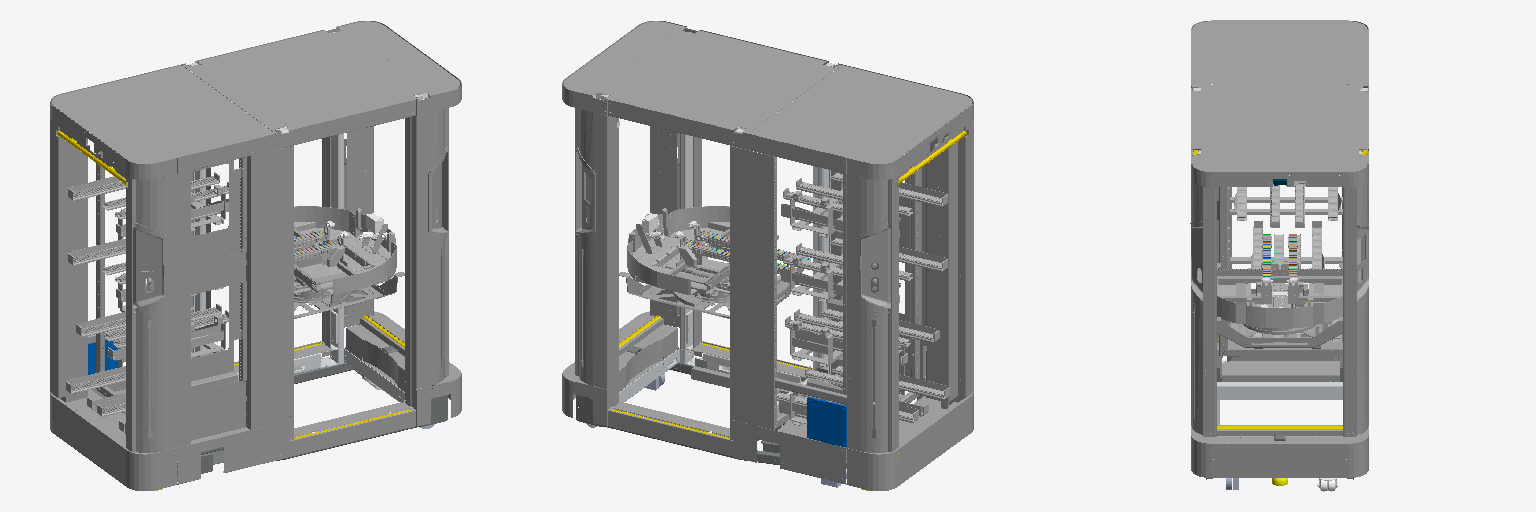
--- Render facts (derived) ---
3 views of the same robot in one strip: view 1: azimuth 30°, elevation 25°; view 2: azimuth 150°, elevation 25°; view 3: azimuth 270°, elevation 25° (orthographic).
Robot: soto_2_1 — 135 links, 134 joints (62 revolute, 4 continuous, 9 prismatic, 59 fixed); root link base_footprint; default pose: all joints at 0 but 7 set to mid-range because 0 is outside their limits (vertical_axis = 1.15, gripper_base_x = 0.165, gripper_y_right = 0.2455, gripper_y_left = 0.2455, press_jaw = 0.115, press_jaw_front = 0.115, +1 more).
Visible links, largest first — view 1: design_elements_link, backpack_base_link, gripper_base_link, manipulator_base_link, backpack_layer_2_base_link, backpack_layer_4_base_link, base_link, backpack_layer_1_base_link, vertical_axis_link, backpack_layer_3_base_link, gripper_base_x_link, gripper_y_left_link; view 2: design_elements_link, backpack_base_link, gripper_base_link, manipulator_base_link, backpack_layer_2_base_link, backpack_layer_3_base_link, backpack_layer_4_base_link, backpack_layer_1_base_link, vertical_axis_link, charger_connector, base_link, gripper_base_x_link (+2 smaller); view 3: design_elements_link, gripper_base_link, manipulator_base_link, backpack_layer_3_base_link, vertical_axis_link, gripper_base_x_link, backpack_layer_2_base_link, backpack_base_link, gripper_y_right_link, gripper_y_left_link.
Boxes of the visible links, x1,y1,x2,y2 form: design_elements_link: [50, 21, 461, 490]; backpack_base_link: [50, 113, 246, 452]; gripper_base_link: [294, 206, 396, 295]; manipulator_base_link: [188, 32, 426, 436]; backpack_layer_2_base_link: [76, 273, 228, 360]; backpack_layer_4_base_link: [68, 154, 228, 237]; base_link: [123, 324, 447, 473]; backpack_layer_1_base_link: [66, 347, 125, 433]; vertical_axis_link: [294, 272, 404, 318]; backpack_layer_3_base_link: [68, 208, 223, 301]; gripper_base_x_link: [294, 229, 355, 294]; gripper_y_left_link: [294, 236, 347, 279]; design_elements_link: [562, 21, 973, 490]; backpack_base_link: [771, 119, 973, 452]; gripper_base_link: [627, 206, 785, 295]; manipulator_base_link: [597, 32, 835, 436]; backpack_layer_2_base_link: [785, 298, 939, 366]; backpack_layer_3_base_link: [781, 230, 947, 302]; backpack_layer_4_base_link: [781, 172, 947, 237]; backpack_layer_1_base_link: [777, 356, 949, 425]; vertical_axis_link: [619, 240, 803, 318]; charger_connector: [807, 397, 846, 446]; base_link: [576, 324, 846, 468]; gripper_base_x_link: [668, 229, 778, 294]; design_elements_link: [1190, 20, 1368, 477]; gripper_base_link: [1217, 268, 1342, 327]; manipulator_base_link: [1192, 86, 1367, 459]; backpack_layer_3_base_link: [1228, 184, 1342, 227]; vertical_axis_link: [1217, 263, 1342, 347]; gripper_base_x_link: [1217, 269, 1342, 307]; backpack_layer_2_base_link: [1228, 221, 1342, 285]; backpack_base_link: [1217, 187, 1342, 355]; gripper_y_right_link: [1281, 236, 1305, 303]; gripper_y_left_link: [1254, 236, 1278, 303].
Bounding box of the posed robot: 2.15 × 1.07 × 2.16 m (x, y, z).
40 mesh visuals loaded from 32 distinct referenced files (30 binary STL); not drawn: 1 (reference not matched to a file when rendering).

robot.urdf — soto_2_1:
<?xml version="1.0" ?>
<!-- =================================================================================== -->
<!-- |    This document was autogenerated by xacro from [local-path]/catkin_ws/install/share/soto_2_1_description/urdf/soto_2_1_description.xacro | -->
<!-- |    EDITING THIS FILE BY HAND IS NOT RECOMMENDED                                 | -->
<!-- =================================================================================== -->
<robot name="soto_2_1">
  <link name="base_footprint"/>
  <link name="base_link">
    <inertial>
      <origin rpy="0 0 0" xyz="0.01 -0.01 0.02"/>
      <mass value="167.45"/>
      <inertia ixx="18.33" ixy="-6.02" ixz="1.41" iyy="88.5" iyz="-0.08" izz="104.26"/>
    </inertial>
    <visual>
      <geometry>
        <mesh filename="package://soto_drive_base_2_1_description/meshes/base_link.STL"/>
      </geometry>
      <material name="">
        <color rgba="0.52941 0.54902 0.54902 1"/>
      </material>
    </visual>
    <collision>
      <geometry>
        <mesh filename="package://soto_drive_base_2_1_description/meshes/base_link_col.STL"/>
      </geometry>
    </collision>
  </link>
  <joint name="base_footprint_to_base" type="fixed">
    <origin rpy="0 0 0" xyz="0 0 0.1665"/>
    <parent link="base_footprint"/>
    <child link="base_link"/>
  </joint>
  <link name="pcw_front_right_base_link">
    <inertial>
      <origin rpy="0 0 0" xyz="0 0.03925 -0.038"/>
      <mass value="13.5"/>
      <inertia ixx="0.07596928" ixy="0" ixz="0" iyy="0.0390105" iyz="0" izz="0.10198378"/>
    </inertial>
    <visual>
      <origin rpy="0 0 0" xyz="0 0.03925 -0.038"/>
      <geometry>
        <box size="0.17 0.2485 0.076"/>
      </geometry>
      <material name="">
        <color rgba="0.79216 0.81961 0.93333 1"/>
      </material>
    </visual>
    <collision>
      <origin rpy="0 0 0" xyz="0 0.03925 -0.038"/>
      <geometry>
        <box size="0.17 0.2485 0.076"/>
      </geometry>
    </collision>
  </link>
  <joint name="base_to_pcw_front_right" type="fixed">
    <origin rpy="0 0 0" xyz="0.92259 -0.305 0.038"/>
    <parent link="base_link"/>
    <child link="pcw_front_right_base_link"/>
  </joint>
  <link name="pcw_rear_left_base_link">
    <inertial>
      <origin rpy="0 0 0" xyz="0 0.03925 -0.038"/>
      <mass value="13.5"/>
      <inertia ixx="0.07596928" ixy="0" ixz="0" iyy="0.0390105" iyz="0" izz="0.10198378"/>
    </inertial>
    <visual>
      <origin rpy="0 0 0" xyz="0 0.03925 -0.038"/>
      <geometry>
        <box size="0.17 0.2485 0.076"/>
      </geometry>
      <material name="">
        <color rgba="0.79216 0.81961 0.93333 1"/>
      </material>
    </visual>
    <collision>
      <origin rpy="0 0 0" xyz="0 0.03925 -0.038"/>
      <geometry>
        <box size="0.17 0.2485 0.076"/>
      </geometry>
    </collision>
  </link>
  <joint name="base_to_pcw_rear_left" type="fixed">
    <origin rpy="0 0 -1.5708" xyz="-0.60082 0.301 0.038"/>
    <parent link="base_link"/>
    <child link="pcw_rear_left_base_link"/>
  </joint>
  <link name="pcw_front_right_steer_link">
    <inertial>
      <origin rpy="0 0 0" xyz="0 0.03975 -0.0545"/>
      <mass value="2"/>
      <inertia ixx="0.022267099999999998" ixy="0" ixz="0" iyy="0.0399683" iyz="0" izz="0.0219021"/>
    </inertial>
    <visual>
      <origin rpy="0 0 0" xyz="0 0.03975 -0.0545"/>
      <geometry>
        <box size="0.109 0.0355 0.11"/>
      </geometry>
      <material name="">
        <color rgba="0.79216 0.81961 0.93333 1"/>
      </material>
    </visual>
    <collision>
      <origin rpy="0 0 0" xyz="0 0.03975 -0.0545"/>
      <geometry>
        <box size="0.109 0.0355 0.11"/>
      </geometry>
    </collision>
  </link>
  <joint name="pcw_front_right_steer" type="continuous">
    <origin rpy="0 0 0" xyz="0 0 -0.0765"/>
    <parent link="pcw_front_right_base_link"/>
    <child link="pcw_front_right_steer_link"/>
    <axis xyz="0 0 1"/>
    <dynamics damping="1.0" friction="0.0"/>
  </joint>
  <link name="pcw_rear_left_steer_link">
    <inertial>
      <origin rpy="0 0 0" xyz="0 0.03975 -0.0545"/>
      <mass value="2"/>
      <inertia ixx="0.022267099999999998" ixy="0" ixz="0" iyy="0.0399683" iyz="0" izz="0.0219021"/>
    </inertial>
    <visual>
      <origin rpy="0 0 0" xyz="0 0.03975 -0.0545"/>
      <geometry>
        <box size="0.109 0.0355 0.11"/>
      </geometry>
      <material name="">
        <color rgba="0.79216 0.81961 0.93333 1"/>
      </material>
    </visual>
    <collision>
      <origin rpy="0 0 0" xyz="0 0.03975 -0.0545"/>
      <geometry>
        <box size="0.109 0.0355 0.11"/>
      </geometry>
    </collision>
  </link>
  <joint name="pcw_rear_left_steer" type="continuous">
    <origin rpy="0 0 1.5707963267948966" xyz="0 0 -0.0765"/>
    <parent link="pcw_rear_left_base_link"/>
    <child link="pcw_rear_left_steer_link"/>
    <axis xyz="0 0 1"/>
    <dynamics damping="1.0" friction="0.0"/>
  </joint>
  <link name="pcw_front_right_wheel_link">
    <inertial>
      <origin rpy="0 0 0" xyz="0 0 0"/>
      <mass value="1.5"/>
      <inertia ixx="0.0217109" ixy="0" ixz="0" iyy="0.039421899999999996" iyz="0" izz="0.0217109"/>
    </inertial>
    <visual>
      <origin rpy="1.5707963267948966 0 0" xyz="0 0 0"/>
      <geometry>
        <cylinder length="0.04" radius="0.0725"/>
      </geometry>
      <material name="">
        <color rgba="0.79216 0.81961 0.93333 1"/>
      </material>
    </visual>
    <collision>
      <origin rpy="1.5707963267948966 0 0" xyz="0 0 0"/>
      <geometry>
        <cylinder length="0.04" radius="0.0725"/>
      </geometry>
    </collision>
  </link>
  <joint name="pcw_front_right_drive" type="continuous">
    <origin rpy="0 0 0" xyz="0 0 -0.055502"/>
    <parent link="pcw_front_right_steer_link"/>
    <child link="pcw_front_right_wheel_link"/>
    <axis xyz="0 1 0"/>
    <dynamics damping="1.0" friction="0.0"/>
  </joint>
  <link name="pcw_rear_left_wheel_link">
    <inertial>
      <origin rpy="0 0 0" xyz="0 0 0"/>
      <mass value="1.5"/>
      <inertia ixx="0.0217109" ixy="0" ixz="0" iyy="0.039421899999999996" iyz="0" izz="0.0217109"/>
    </inertial>
    <visual>
      <origin rpy="1.5707963267948966 0 0" xyz="0 0 0"/>
      <geometry>
        <cylinder length="0.04" radius="0.0725"/>
      </geometry>
      <material name="">
        <color rgba="0.79216 0.81961 0.93333 1"/>
      </material>
    </visual>
    <collision>
      <origin rpy="1.5707963267948966 0 0" xyz="0 0 0"/>
      <geometry>
        <cylinder length="0.04" radius="0.0725"/>
      </geometry>
    </collision>
  </link>
  <joint name="pcw_rear_left_drive" type="continuous">
    <origin rpy="0 0 0" xyz="0 0 -0.055502"/>
    <parent link="pcw_rear_left_steer_link"/>
    <child link="pcw_rear_left_wheel_link"/>
    <axis xyz="0 1 0"/>
    <dynamics damping="1.0" friction="0.0"/>
  </joint>
  <link name="caster_front_left_base_link">
    <inertial>
      <origin rpy="0 0 0" xyz="-0.02 0 0.02"/>
      <mass value="3.1"/>
      <inertia ixx="0.01" ixy="0" ixz="0" iyy="0.01" iyz="0" izz="0.01"/>
    </inertial>
    <visual>
      <geometry>
        <mesh filename="package://soto_drive_base_2_1_description/meshes/caster_base_link.STL"/>
      </geometry>
      <material name="">
        <color rgba="1 1 1 1"/>
      </material>
    </visual>
    <collision>
      <geometry>
        <sphere radius="0.04052"/>
      </geometry>
    </collision>
  </link>
  <joint name="base_to_caster_front_left" type="fixed">
    <origin rpy="0 0 0" xyz="0.94959 0.28625 -0.1248"/>
    <parent link="base_link"/>
    <child link="caster_front_left_base_link"/>
  </joint>
  <link name="caster_rear_right_base_link">
    <inertial>
      <origin rpy="0 0 0" xyz="-0.02 0 0.02"/>
      <mass value="3.1"/>
      <inertia ixx="0.01" ixy="0" ixz="0" iyy="0.01" iyz="0" izz="0.01"/>
    </inertial>
    <visual>
      <geometry>
        <mesh filename="package://soto_drive_base_2_1_description/meshes/caster_base_link.STL"/>
      </geometry>
      <material name="">
        <color rgba="1 1 1 1"/>
      </material>
    </visual>
    <collision>
      <geometry>
        <sphere radius="0.04052"/>
      </geometry>
    </collision>
  </link>
  <joint name="base_to_caster_rear_right" type="fixed">
    <origin rpy="0 0 1.5707963267948966" xyz="-0.60075 -0.229 -0.1248"/>
    <parent link="base_link"/>
    <child link="caster_rear_right_base_link"/>
  </joint>
  <link name="laser_scanner_base_front_link">
    <inertial>
      <origin rpy="0 0 0" xyz="-0.0030205 0 -0.042173"/>
      <mass value="1.45"/>
      <inertia ixx="0.0031605" ixy="0" ixz="0" iyy="0.0030628" iyz="0" izz="0.0018952"/>
    </inertial>
    <visual>
      <geometry>
        <mesh filename="package://soto_drive_base_2_1_description/meshes/laser_scanner_link.STL"/>
      </geometry>
      <material name="">
        <color rgba="1 1 0 1"/>
      </material>
    </visual>
    <collision>
      <origin rpy="0 0 0" xyz="0 0 -0.0353"/>
      <geometry>
        <cylinder length="0.150512" radius="0.05"/>
      </geometry>
    </collision>
  </link>
  <joint name="base_to_laser_scanner_front" type="fixed">
    <origin rpy="3.1416 0 0" xyz="1.0013 0 -0.04574"/>
    <parent link="base_link"/>
    <child link="laser_scanner_base_front_link"/>
  </joint>
  <link name="laser_scanner_base_rear_right_link">
    <inertial>
      <origin rpy="0 0 0" xyz="-0.0030205 0 -0.042173"/>
      <mass value="1.45"/>
      <inertia ixx="0.0031605" ixy="0" ixz="0" iyy="0.0030628" iyz="0" izz="0.0018952"/>
    </inertial>
    <visual>
      <geometry>
        <mesh filename="package://soto_drive_base_2_1_description/meshes/laser_scanner_link.STL"/>
      </geometry>
      <material name="">
        <color rgba="1 1 0 1"/>
      </material>
    </visual>
    <collision>
      <origin rpy="0 0 0" xyz="0 0 -0.0353"/>
      <geometry>
        <cylinder length="0.150512" radius="0.05"/>
      </geometry>
    </collision>
  </link>
  <joint name="base_to_laser_scanner_rear_right" type="fixed">
    <origin rpy="3.1416 0 -2.3562" xyz="-0.86928 -0.37856 -0.045761"/>
    <parent link="base_link"/>
    <child link="laser_scanner_base_rear_right_link"/>
  </joint>
  <link name="laser_scanner_base_rear_left_link">
    <inertial>
      <origin rpy="0 0 0" xyz="-0.0030205 0 -0.042173"/>
      <mass value="1.45"/>
      <inertia ixx="0.0031605" ixy="0" ixz="0" iyy="0.0030628" iyz="0" izz="0.0018952"/>
    </inertial>
    <visual>
      <geometry>
        <mesh filename="package://soto_drive_base_2_1_description/meshes/laser_scanner_link.STL"/>
      </geometry>
      <material name="">
        <color rgba="1 1 0 1"/>
      </material>
    </visual>
    <collision>
      <origin rpy="0 0 0" xyz="0 0 -0.0353"/>
      <geometry>
        <cylinder length="0.150512" radius="0.05"/>
      </geometry>
    </collision>
  </link>
  <joint name="base_to_laser_scanner_rear_left" type="fixed">
    <origin rpy="3.1416 0 2.3562" xyz="-0.86908 0.37856 -0.045761"/>
    <parent link="base_link"/>
    <child link="laser_scanner_base_rear_left_link"/>
  </joint>
  <link name="light_curtain_receiver_front_link">
    <inertial>
      <origin rpy="0 0 0" xyz="-0.013451 0.00046065 0"/>
      <mass value="0.63959"/>
      <inertia ixx="0.03084176" ixy="0" ixz="0" iyy="0.00013446" iyz="0" izz="0.03082808"/>
    </inertial>
    <visual>
      <geometry>
        <mesh filename="package://soto_drive_base_2_1_description/meshes/light_curtain_receiver_link.STL"/>
      </geometry>
      <material name="">
        <color rgba="0.9780 0.8557 0 1"/>
      </material>
    </visual>
    <collision>
      <origin rpy="1.5708 0 0" xyz="-0.015 0 0"/>
      <geometry>
        <cylinder length="0.7625" radius="0.015"/>
      </geometry>
    </collision>
  </link>
  <joint name="base_to_light_curtain_receiver_front" type="fixed">
    <origin rpy="3.1416 -1.5708 3.1416" xyz="0.9249 0 0.24363"/>
    <parent link="base_link"/>
    <child link="light_curtain_receiver_front_link"/>
  </joint>
  <link name="imu_link">
    <inertial>
      <origin rpy="0 0 0" xyz="0 0.00119 -0.00078463"/>
      <mass value="0.022358"/>
      <inertia ixx="2.7765E-06" ixy="1.8814E-21" ixz="-3.6866E-25" iyy="2.4313E-06" iyz="9.4639E-09" izz="4.9161E-06"/>
    </inertial>
    <visual>
      <geometry>
        <mesh filename="package://soto_drive_base_2_1_description/meshes/imu_link.STL"/>
      </geometry>
      <material name="">
        <color rgba="0.1 0.1 0.1 1"/>
      </material>
    </visual>
  </link>
  <joint name="base_to_imu" type="fixed">
    <origin rpy="-1.5708 1.5708 0.0" xyz="-0.51689 -0.38158 1.8366"/>
    <parent link="base_link"/>
    <child link="imu_link"/>
  </joint>
  <joint name="base_to_manipulator_base" type="fixed">
    <origin rpy="0 0 0" xyz="0.33418 0 -0.02188"/>
    <parent link="base_link"/>
    <child link="manipulator_base_link"/>
  </joint>
  <link name="manipulator_base_link">
    <inertial>
      <origin rpy="0 0 0" xyz="0.0083951 0.00056472 0.83616"/>
      <mass value="133"/>
      <inertia ixx="233.82" ixy="1.4667" ixz="-2.4067" iyy="235.13" iyz="-1.5083" izz="48.653"/>
    </inertial>
    <visual>
      <geometry>
        <mesh filename="package://soto_vertical_axis_2_1_description/meshes/manipulator_base_link.STL"/>
      </geometry>
      <material name="">
        <color rgba="0.89804 0.91765 0.92941 1"/>
      </material>
    </visual>
    <collision>
      <geometry>
        <mesh filename="package://soto_vertical_axis_2_1_description/meshes/manipulator_base_link_col.STL"/>
      </geometry>
    </collision>
  </link>
  <link name="vertical_axis_link">
    <inertial>
      <origin rpy="0 0 0" xyz="-0.017005 -0.012942 0.048502"/>
      <mass value="36.13"/>
      <inertia ixx="1.196522" ixy="0.120705" ixz="-0.048934" iyy="1.700861" iyz="-0.036322" izz="2.566171"/>
    </inertial>
    <visual>
      <geometry>
        <mesh filename="package://soto_vertical_axis_2_1_description/meshes/vertical_axis_link.STL"/>
      </geometry>
      <material name="">
        <color rgba="0.69804 0.69804 0.69804 1"/>
      </material>
    </visual>
    <collision>
      <geometry>
        <mesh filename="package://soto_vertical_axis_2_1_description/meshes/vertical_axis_link_col.STL"/>
      </geometry>
    </collision>
  </link>
  <joint name="vertical_axis" type="prismatic">
    <origin rpy="0 0 0" xyz="0 0 -0.47283"/>
    <parent link="manipulator_base_link"/>
    <child link="vertical_axis_link"/>
    <axis xyz="0 0 1"/>
    <dynamics damping="4000.0" friction="0.0"/>
    <limit effort="1650.32" lower="0.385" upper="1.91" velocity="0.45"/>
  </joint>
  <link name="light_curtain_emitter_right_link">
    <inertial>
      <origin rpy="0 0 0" xyz="-0.013451 0 0"/>
      <mass value="0.63959"/>
      <inertia ixx="0.03084176" ixy="0" ixz="0" iyy="0.00013446" iyz="0" izz="0.03082808"/>
    </inertial>
    <visual>
      <geometry>
        <mesh filename="package://soto_vertical_axis_2_1_description/meshes/light_curtain_emitter_link.STL"/>
      </geometry>
      <material name="">
        <color rgba="0.9780 0.8557 0 1"/>
      </material>
    </visual>
    <collision>
      <origin rpy="1.5708 0 0" xyz="-0.015 0 0"/>
      <geometry>
        <cylinder length="0.7625" radius="0.015"/>
      </geometry>
    </collision>
  </link>
  <joint name="base_to_light_curtain_emitter_right" type="fixed">
    <origin rpy="1.5708 1.5708 0" xyz="0.0012921 -0.505 1.9279"/>
    <parent link="manipulator_base_link"/>
    <child link="light_curtain_emitter_right_link"/>
  </joint>
  <link name="light_curtain_emitter_left_link">
    <inertial>
      <origin rpy="0 0 0" xyz="-0.013451 0 0"/>
      <mass value="0.63959"/>
      <inertia ixx="0.03084176" ixy="0" ixz="0" iyy="0.00013446" iyz="0" izz="0.03082808"/>
    </inertial>
    <visual>
      <geometry>
        <mesh filename="package://soto_vertical_axis_2_1_description/meshes/light_curtain_emitter_link.STL"/>
      </geometry>
      <material name="">
        <color rgba="0.9780 0.8557 0 1"/>
      </material>
    </visual>
    <collision>
      <origin rpy="1.5708 0 0" xyz="-0.015 0 0"/>
      <geometry>
        <cylinder length="0.7625" radius="0.015"/>
      </geometry>
    </collision>
  </link>
  <joint name="base_to_light_curtain_emitter_left" type="fixed">
    <origin rpy="1.5708 1.5708 0" xyz="-0.0012921 0.505 1.9279"/>
    <parent link="manipulator_base_link"/>
    <child link="light_curtain_emitter_left_link"/>
  </joint>
  <link name="light_curtain_receiver_right_link">
    <inertial>
      <origin rpy="0 0 0" xyz="-0.013451 0.00046065 0"/>
      <mass value="0.63959"/>
      <inertia ixx="0.03084176" ixy="0" ixz="0" iyy="0.00013446" iyz="0" izz="0.03082808"/>
    </inertial>
    <visual>
      <geometry>
        <mesh filename="package://soto_vertical_axis_2_1_description/meshes/light_curtain_receiver_link.STL"/>
      </geometry>
      <material name="">
        <color rgba="0.9780 0.8557 0 1"/>
      </material>
    </visual>
    <collision>
      <origin rpy="1.5708 0 0" xyz="-0.015 0 0"/>
      <geometry>
        <cylinder length="0.7625" radius="0.015"/>
      </geometry>
    </collision>
  </link>
  <joint name="base_to_light_curtain_receiver_right" type="fixed">
    <origin rpy="0 -1.5708 1.5708" xyz="0.00181 -0.505 0.0954"/>
    <parent link="manipulator_base_link"/>
    <child link="light_curtain_receiver_right_link"/>
  </joint>
  <link name="light_curtain_receiver_left_link">
    <inertial>
      <origin rpy="0 0 0" xyz="-0.013451 0.00046065 0"/>
      <mass value="0.63959"/>
      <inertia ixx="0.03084176" ixy="0" ixz="0" iyy="0.00013446" iyz="0" izz="0.03082808"/>
    </inertial>
    <visual>
      <geometry>
        <mesh filename="package://soto_vertical_axis_2_1_description/meshes/light_curtain_receiver_link.STL"/>
      </geometry>
      <material name="">
        <color rgba="0.9780 0.8557 0 1"/>
      </material>
    </visual>
    <collision>
      <origin rpy="1.5708 0 0" xyz="-0.015 0 0"/>
      <geometry>
        <cylinder length="0.7625" radius="0.015"/>
      </geometry>
    </collision>
  </link>
  <joint name="base_to_light_curtain_receiver_left" type="fixed">
    <origin rpy="1.5708 -1.5708 0" xyz="-0.00081 0.505 0.0954"/>
    <parent link="manipulator_base_link"/>
    <child link="light_curtain_receiver_left_link"/>
  </joint>
  <link name="nav_depth_camera_front_link">
    <inertial>
      <origin rpy="0 0 0" xyz="-0.025274 0.00013854 -0.023398"/>
      <mass value="1.0"/>
      <inertia ixx="0.00081667" ixy="0" ixz="0" iyy="0.00094167" iyz="0" izz="0.00094167"/>
    </inertial>
    <visual>
      <geometry>
        <mesh filename="package://soto_vertical_axis_2_1_description/meshes/nav_depth_camera_front_link.STL"/>
      </geometry>
      <material name="">
        <color rgba="0 0.292 0.403 1"/>
      </material>
    </visual>
    <collision>
      <origin rpy="0 0 0" xyz="0.0125 -0.01475 -0.035"/>
      <geometry>
        <box size="0.08 0.07 0.07"/>
      </geometry>
    </collision>
  </link>
  <joint name="nav_depth_camera_front" type="fixed">
    <origin rpy="-2.3213 0.0 -1.5708" xyz="0.70999 0.0135 1.92162"/>
    <parent link="manipulator_base_link"/>
    <child link="nav_depth_camera_front_link"/>
  </joint>
  <link name="blue_spot_front_link"/>
  <joint name="blue_spot_front" type="fixed">
    <origin rpy="0 2.3213 0" xyz="0.70999 0.117 1.92162"/>
    <parent link="manipulator_base_link"/>
    <child link="blue_spot_front_link"/>
  </joint>
  <link name="gripper_base_link">
    <inertial>
      <origin rpy="0 0 0" xyz="0 -0.003906 0.071229"/>
      <mass value="22.11"/>
      <inertia ixx="1.434512" ixy="0.01329" ixz="-0.275856" iyy="1.610174" iyz="-0.0066" izz="2.705717"/>
    </inertial>
    <visual>
      <geometry>
        <mesh filename="package://soto_conveyor_gripper_1_2_description/meshes/gripper_base_link.STL"/>
      </geometry>
      <material name="">
        <color rgba="0.75294 0.75294 0.75294 1"/>
      </material>
    </visual>
    <collision>
      <geometry>
        <mesh filename="package://soto_conveyor_gripper_1_2_description/meshes/gripper_base_link_col.STL"/>
      </geometry>
    </collision>
  </link>
  <joint name="gripper_rotate" type="revolute">
    <origin rpy="0 0 3.1416" xyz="0 0 0.1205"/>
    <parent link="vertical_axis_link"/>
    <child link="gripper_base_link"/>
    <axis xyz="0 0 1"/>
    <dynamics damping="12.0" friction="0.0"/>
    <limit effort="32.11" lower="-3.22886" upper="1.65806" velocity="3.72802"/>
  </joint>
  <link name="gripper_base_x_link">
    <inertial>
      <origin rpy="0 0 0" xyz="-0.10693 -0.020943 0.010393"/>
      <mass value="8.27"/>
      <inertia ixx="0.439749" ixy="0.029672" ixz="-0.0008" iyy="0.203588" iyz="0.00403" izz="0.632283"/>
    </inertial>
    <visual>
      <geometry>
        <mesh filename="package://soto_conveyor_gripper_1_2_description/meshes/gripper_base_x_link.STL"/>
      </geometry>
      <material name="">
        <color rgba="0.69804 0.69804 0.69804 1"/>
      </material>
    </visual>
    <collision>
      <geometry>
        <mesh filename="package://soto_conveyor_gripper_1_2_description/meshes/gripper_base_x_link_col.STL"/>
      </geometry>
    </collision>
  </link>
  <joint name="gripper_base_x" type="prismatic">
    <origin rpy="0 0 0" xyz="0 0 0.08655"/>
    <parent link="gripper_base_link"/>
    <child link="gripper_base_x_link"/>
    <axis xyz="1 0 0"/>
    <dynamics damping="200.0" friction="10.0"/>
    <limit effort="140.16" lower="0.002" upper="0.328" velocity="0.145711"/>
  </joint>
  <link name="gripper_y_right_link">
    <inertial>
      <origin rpy="0 0 0" xyz="0.31885 0.0033569 -0.031557"/>
      <mass value="4.7"/>
      <inertia ixx="0.017352" ixy="-0.011281" ixz="-0.039727" iyy="0.535979" iyz="0.000597" izz="0.530221"/>
    </inertial>
    <visual>
      <geometry>
        <mesh filename="package://soto_conveyor_gripper_1_2_description/meshes/gripper_y_right_link_with_belt.STL"/>
      </geometry>
      <material name="">
        <color rgba="0.75294 0.75294 0.75294 1"/>
      </material>
    </visual>
    <collision>
      <geometry>
        <mesh filename="package://soto_conveyor_gripper_1_2_description/meshes/gripper_y_right_link_with_belt_col.STL"/>
      </geometry>
    </collision>
  </link>
  <joint name="gripper_y_right" type="prismatic">
    <origin rpy="0 0 0" xyz="-0.337 -0.325 0.12155"/>
    <parent link="gripper_base_x_link"/>
    <child link="gripper_y_right_link"/>
    <axis xyz="0 1 0"/>
    <dynamics damping="300.0" friction="80.0"/>
    <limit effort="140.16" lower="0.002" upper="0.489" velocity="0.261799"/>
  </joint>
  <link name="distance_sensor_conveyor_right">
    <inertial>
      <origin rpy="0 0 0" xyz="-0.026935 0 -0.00089453"/>
      <mass value="0.035209"/>
      <inertia ixx="7.5071E-06" ixy="-4.8531E-10" ixz="-1.4593E-07" iyy="1.0074E-05" iyz="6.5654E-10" izz="5.2155E-06"/>
    </inertial>
    <visual>
      <geometry>
        <mesh filename="package://soto_conveyor_gripper_1_2_description/meshes/distance_sensor.STL"/>
      </geometry>
      <material name="">
        <color rgba="1 1 1 1"/>
      </material>
    </visual>
    <collision>
      <origin rpy="0 0 0" xyz="-0.029073 0 0"/>
      <geometry>
        <box size="0.0308 0.0225 0.049"/>
      </geometry>
    </collision>
  </link>
  <joint name="gripper_y_right_to_distance_sensor" type="fixed">
    <origin rpy="1.5708 0 0" xyz="0.00723 0 0.0425"/>
    <parent link="gripper_y_right_link"/>
    <child link="distance_sensor_conveyor_right"/>
  </joint>
  <link name="gripper_y_left_link">
    <inertial>
      <origin rpy="0 0 0" xyz="0.31885 -0.0033569 -0.031557"/>
      <mass value="4.7"/>
      <inertia ixx="0.017352" ixy="0.011281" ixz="-0.039727" iyy="0.535979" iyz="-0.000597" izz="0.530221"/>
    </inertial>
    <visual>
      <geometry>
        <mesh filename="package://soto_conveyor_gripper_1_2_description/meshes/gripper_y_left_link_with_belt.STL"/>
      </geometry>
      <material name="">
        <color rgba="0.75294 0.75294 0.75294 1"/>
      </material>
    </visual>
    <collision>
      <geometry>
        <mesh filename="package://soto_conveyor_gripper_1_2_description/meshes/gripper_y_left_link_with_belt_col.STL"/>
      </geometry>
    </collision>
  </link>
  <joint name="gripper_y_left" type="prismatic">
    <origin rpy="0 0 0" xyz="-0.337 0.325 0.12155"/>
    <parent link="gripper_base_x_link"/>
    <child link="gripper_y_left_link"/>
    <axis xyz="0 -1 0"/>
    <dynamics damping="300.0" friction="80.0"/>
    <limit effort="140.16" lower="0.002" upper="0.489" velocity="0.261799"/>
  </joint>
  <link name="distance_sensor_conveyor_left">
    <inertial>
      <origin rpy="0 0 0" xyz="-0.026935 0 -0.00089453"/>
      <mass value="0.035209"/>
      <inertia ixx="7.5071E-06" ixy="-4.8531E-10" ixz="-1.4593E-07" iyy="1.0074E-05" iyz="6.5654E-10" izz="5.2155E-06"/>
    </inertial>
    <visual>
      <geometry>
        <mesh filename="package://soto_conveyor_gripper_1_2_description/meshes/distance_sensor.STL"/>
      </geometry>
      <material name="">
        <color rgba="1 1 1 1"/>
      </material>
    </visual>
    <collision>
      <origin rpy="0 0 0" xyz="-0.029073 0 0"/>
      <geometry>
        <box size="0.0308 0.0225 0.049"/>
      </geometry>
    </collision>
  </link>
  <joint name="gripper_y_left_to_distance_sensor" type="fixed">
    <origin rpy="-1.5708 0 0" xyz="0.00723 0 0.0425"/>
    <parent link="gripper_y_left_link"/>
    <child link="distance_sensor_conveyor_left"/>
  </joint>
  <link name="conveyor_belt_right_link">
    <!-- Assumes a (size, size, size) cube link -->
    <inertial>
      <origin xyz="0 0 0"/>
      <mass value="0.5"/>
      <inertia ixx="0.0008333333333333335" ixy="0" ixz="0" iyy="0.0008333333333333335" iyz="0" izz="0.0008333333333333335"/>
    </inertial>
  </link>
  <joint name="conveyor_belt_right" type="prismatic">
    <origin rpy="0 0 0" xyz="0.68001 0 -0.0182"/>
    <parent link="gripper_y_right_link"/>
    <child link="conveyor_belt_right_link"/>
    <axis xyz="-1 0 0"/>
    <limit effort="55.4465" lower="-9999999999" upper="9999999999" velocity="0.247126"/>
  </joint>
  <link name="conveyor_belt_right_surface_foremost_link">
    <!-- Assumes a (size, size, size) cube link -->
    <inertial>
      <origin xyz="0 0 0"/>
      <mass value="0.01"/>
      <inertia ixx="1.666666666666667e-05" ixy="0" ixz="0" iyy="1.666666666666667e-05" iyz="0" izz="1.666666666666667e-05"/>
    </inertial>
  </link>
  <joint name="conveyor_belt_right_to_surface_foremost" type="fixed">
    <origin rpy="0 0 0" xyz="0.7050115 0 0"/>
    <parent link="gripper_y_right_link"/>
    <child link="conveyor_belt_right_surface_foremost_link"/>
  </joint>
  <link name="conveyor_belt_right_foremost_link"/>
  <joint name="conveyor_belt_right_surface_to_foremost" type="fixed">
    <origin rpy="0 0 0" xyz="0.0182 0 0"/>
    <parent link="conveyor_belt_right_surface_foremost_link"/>
    <child link="conveyor_belt_right_foremost_link"/>
  </joint>
  <link name="conveyor_belt_left_link">
    <!-- Assumes a (size, size, size) cube link -->
    <inertial>
      <origin xyz="0 0 0"/>
      <mass value="0.5"/>
      <inertia ixx="0.0008333333333333335" ixy="0" ixz="0" iyy="0.0008333333333333335" iyz="0" izz="0.0008333333333333335"/>
    </inertial>
  </link>
  <joint name="conveyor_belt_left" type="prismatic">
    <origin rpy="0 0 0" xyz="0.68001 0 -0.0182"/>
    <parent link="gripper_y_left_link"/>
    <child link="conveyor_belt_left_link"/>
    <axis xyz="-1 0 0"/>
    <limit effort="55.4465" lower="-9999999999" upper="9999999999" velocity="0.247126"/>
  </joint>
  <link name="conveyor_belt_left_surface_foremost_link">
    <!-- Assumes a (size, size, size) cube link -->
    <inertial>
      <origin xyz="0 0 0"/>
      <mass value="0.01"/>
      <inertia ixx="1.666666666666667e-05" ixy="0" ixz="0" iyy="1.666666666666667e-05" iyz="0" izz="1.666666666666667e-05"/>
    </inertial>
  </link>
  <joint name="conveyor_belt_left_to_surface_foremost" type="fixed">
    <origin rpy="0 0 0" xyz="0.7050115 0 0"/>
    <parent link="gripper_y_left_link"/>
    <child link="conveyor_belt_left_surface_foremost_link"/>
  </joint>
  <link name="conveyor_belt_left_foremost_link"/>
  <joint name="conveyor_belt_left_surface_to_foremost" type="fixed">
    <origin rpy="0 0 0" xyz="0.0182 0 0"/>
    <parent link="conveyor_belt_left_surface_foremost_link"/>
    <child link="conveyor_belt_left_foremost_link"/>
  </joint>
  <link name="gripper_depth_camera_link">
    <inertial>
      <origin rpy="0 0 0" xyz="-0.025274 0.00013854 -0.023398"/>
      <mass value="0.69"/>
      <inertia ixx="0.000887" ixy="0" ixz="0.000438" iyy="0.00153" iyz="0" izz="0.001364"/>
    </inertial>
    <visual>
      <geometry>
        <mesh filename="package://soto_conveyor_gripper_1_2_description/meshes/gripper_depth_camera_link.STL"/>
      </geometry>
      <material name="">
        <color rgba="1 1 1 1"/>
      </material>
    </visual>
  </link>
  <joint name="gripper_depth_camera" type="fixed">
    <origin rpy="0.0 0.0 0.0" xyz="-0.40375 -0.02367 0.2359"/>
    <parent link="gripper_base_link"/>
    <child link="gripper_depth_camera_link"/>
  </joint>
  <link name="gripper_barcode_camera">
    <inertial>
      <origin rpy="0 0 0" xyz="-0.399914 0 0.166337"/>
      <mass value="0.3"/>
      <inertia ixx="0.008384" ixy="0" ixz="-0.01991" iyy="0.056698" iyz="0" izz="0.048367"/>
    </inertial>
    <visual>
      <geometry>
        <mesh filename="package://soto_conveyor_gripper_1_2_description/meshes/gripper_barcode_camera.STL"/>
      </geometry>
      <material name="">
        <color rgba="1 1 1 1"/>
      </material>
    </visual>
  </link>
  <joint name="gripper_barcode_camera" type="fixed">
    <origin rpy="-1.309 0.0 -1.5708" xyz="-0.4078 0.0 0.16419"/>
    <parent link="gripper_base_link"/>
    <child link="gripper_barcode_camera"/>
  </joint>
  <link name="reflective_sensor_gripper">
    <inertial>
      <origin rpy="0 0 0" xyz="-0.010172 6.0056E-07 0.00078646"/>
      <mass value="0.02"/>
      <inertia ixx="1.0016E-06" ixy="-7.2534E-12" ixz="1.4276E-09" iyy="1.1697E-06" iyz="1.4704E-10" izz="4.3881E-07"/>
    </inertial>
    <visual>
      <geometry>
        <mesh filename="package://soto_conveyor_gripper_1_2_description/meshes/reflective_sensor.STL"/>
      </geometry>
      <material name="">
        <color rgba="1 1 1 1"/>
      </material>
    </visual>
    <collision>
      <origin rpy="0 0 0" xyz="-0.01 0 0.0015"/>
      <geometry>
        <box size="0.02 0.0136 0.032"/>
      </geometry>
    </collision>
  </link>
  <joint name="gripper_base_to_reflective_sensor" type="fixed">
    <origin rpy="1.5708 0 -0.058124" xyz="-0.44819 0.096981 0.16975"/>
    <parent link="gripper_base_link"/>
    <child link="reflective_sensor_gripper"/>
  </joint>
  <link name="distance_sensor_gripper">
    <inertial>
      <origin rpy="0 0 0" xyz="-0.026935 0 -0.00089453"/>
      <mass value="0.035209"/>
      <inertia ixx="7.5071E-06" ixy="-4.8531E-10" ixz="-1.4593E-07" iyy="1.0074E-05" iyz="6.5654E-10" izz="5.2155E-06"/>
    </inertial>
    <visual>
      <geometry>
        <mesh filename="package://soto_conveyor_gripper_1_2_description/meshes/distance_sensor.STL"/>
      </geometry>
      <material name="">
        <color rgba="1 1 1 1"/>
      </material>
    </visual>
    <collision>
      <origin rpy="0 0 0" xyz="-0.029073 0 0"/>
      <geometry>
        <box size="0.0308 0.0225 0.049"/>
      </geometry>
    </collision>
  </link>
  <joint name="gripper_base_to_distance_sensor" type="fixed">
    <origin rpy="1.5708 0 -0.058124" xyz="-0.42364 0.093946 0.1908"/>
    <parent link="gripper_base_link"/>
    <child link="distance_sensor_gripper"/>
  </joint>
  <link name="gripper_surface_tip_link"/>
  <joint name="gripper_base_x_to_surface_tip" type="fixed">
    <origin rpy="0 0 0" xyz="0.3862115 0 0.12155"/>
    <parent link="gripper_base_x_link"/>
    <child link="gripper_surface_tip_link"/>
  </joint>
  <link name="barcode_search_frame"/>
  <joint name="barcode_search_joint" type="fixed">
    <origin rpy="0 0 0" xyz="0.1 0 0.1"/>
    <parent link="gripper_surface_tip_link"/>
    <child link="barcode_search_frame"/>
  </joint>
  <joint name="manipulator_base_to_press_base" type="fixed">
    <origin rpy="0 0 0" xyz="0 0 1.92058"/>
    <parent link="manipulator_base_link"/>
    <child link="press_base_link"/>
  </joint>
  <link name="press_base_link">
    <inertial>
      <origin rpy="0 0 0" xyz="0.040186 -0.023445 0.040704"/>
      <mass value="21.5"/>
      <inertia ixx="2.637865" ixy="-0.29078" ixz="0.028211" iyy="3.376731" iyz="0.021101" izz="5.886895"/>
    </inertial>
    <visual>
      <geometry>
        <mesh filename="package://soto_klt_press_1_1_description/meshes/press_base_link.STL"/>
      </geometry>
      <material name="">
        <color rgba="1 1 1 1"/>
      </material>
    </visual>
    <collision>
      <geometry>
        <mesh filename="package://soto_klt_press_1_1_description/meshes/press_base_link_col.STL"/>
      </geometry>
    </collision>
  </link>
  <link name="press_jaw_link">
    <inertial>
      <origin rpy="0 0 0" xyz="0 -0.017586 0.057801"/>
      <mass value="1.77"/>
      <inertia ixx="0.009458" ixy="0" ixz="0" iyy="0.118996" iyz="-0.00189" izz="0.111931"/>
    </inertial>
    <visual>
      <geometry>
        <mesh filename="package://soto_klt_press_1_1_description/meshes/press_jaw_link.STL"/>
      </geometry>
      <material name="">
        <color rgba="1 1 1 1"/>
      </material>
    </visual>
    <collision>
      <geometry>
        <mesh filename="package://soto_klt_press_1_1_description/meshes/press_jaw_link_col.STL"/>
      </geometry>
    </collision>
  </link>
  <joint name="press_jaw" type="prismatic">
    <origin rpy="0 0 1.5708" xyz="0.32832 0 -0.085582"/>
    <parent link="press_base_link"/>
    <child link="press_jaw_link"/>
    <axis xyz="0 1 0"/>
    <dynamics damping="20.0" friction="0.0"/>
    <limit effort="348.099" lower="0.001" upper="0.229" velocity="0.154604"/>
  </joint>
  <link name="press_jaw_front_link">
    <inertial>
      <origin rpy="0 0 0" xyz="0 -0.017586 0.057801"/>
      <mass value="1.77"/>
      <inertia ixx="0.009458" ixy="0" ixz="0" iyy="0.118996" iyz="-0.00189" izz="0.111931"/>
    </inertial>
  </link>
  <joint name="press_jaw_front" type="prismatic">
    <origin rpy="0 0 1.5708" xyz="0.32832 0 -0.085582"/>
    <parent link="press_base_link"/>
    <child link="press_jaw_front_link"/>
    <axis xyz="0 1 0"/>
    <limit effort="348.099" lower="0.001" upper="0.229" velocity="0.154604"/>
    <mimic joint="press_jaw" multiplier="1" offset="0"/>
  </joint>
  <link name="press_jaw_rear_link">
    <inertial>
      <origin rpy="0 0 0" xyz="0 -0.017586 0.057801"/>
      <mass value="1.77"/>
      <inertia ixx="0.009458" ixy="0" ixz="0" iyy="0.118996" iyz="-0.00189" izz="0.111931"/>
    </inertial>
    <visual>
      <geometry>
        <mesh filename="package://soto_klt_press_1_1_description/meshes/press_jaw_link.STL"/>
      </geometry>
      <material name="">
        <color rgba="0.25098 0.25098 0.25098 1"/>
      </material>
    </visual>
    <collision>
      <geometry>
        <mesh filename="package://soto_klt_press_1_1_description/meshes/press_jaw_link_col.STL"/>
      </geometry>
    </collision>
  </link>
  <joint name="press_jaw_rear" type="prismatic">
    <origin rpy="0 0 -1.5708" xyz="-0.32832 0 -0.085582"/>
    <parent link="press_base_link"/>
    <child link="press_jaw_rear_link"/>
    <axis xyz="0 1 0"/>
    <limit effort="348.099" lower="0.001" upper="0.229" velocity="0.154604"/>
    <mimic joint="press_jaw" multiplier="1" offset="0"/>
  </joint>
  <link name="press_depth_camera_link">
    <inertial>
      <origin rpy="0 0 0" xyz="-0.025274 0.00013854 -0.023398"/>
      <mass value="0.69"/>
      <inertia ixx="0.000887" ixy="0" ixz="0.000438" iyy="0.00153" iyz="0" izz="0.001364"/>
    </inertial>
    <visual>
      <geometry>
        <mesh filename="package://soto_klt_press_1_1_description/meshes/press_depth_camera_link.STL"/>
      </geometry>
      <material name="">
        <color rgba="1 1 1 1"/>
      </material>
    </visual>
  </link>
  <joint name="press_depth_camera" type="fixed">
    <origin rpy="0.0 1.5708 0.0" xyz="0.00014582 -0.018369 0.00575"/>
    <parent link="press_base_link"/>
    <child link="press_depth_camera_link"/>
  </joint>
  <link name="light_curtain_emitter_front_link">
    <inertial>
      <origin rpy="0 0 0" xyz="-0.013451 -5.8672E-05 1.2777E-05"/>
      <mass value="0.63959"/>
      <inertia ixx="0.031871" ixy="-7.2138E-06" ixz="9.5339E-08" iyy="8.6079E-05" iyz="-2.9432E-06" izz="0.03186"/>
    </inertial>
    <visual>
      <geometry>
        <mesh filename="package://soto_klt_press_1_1_description/meshes/light_curtain_emitter_front_link.STL"/>
      </geometry>
      <material name="">
        <color rgba="0.9780 0.8557 0 1"/>
      </material>
    </visual>
    <collision>
      <origin rpy="1.5708 0 0" xyz="-0.015 0 0"/>
      <geometry>
        <cylinder length="0.7625" radius="0.015"/>
      </geometry>
    </collision>
  </link>
  <joint name="base_to_light_curtain_emitter_front" type="fixed">
    <origin rpy="0 1.5708 0" xyz="0.5907 -0.00019206 -0.033932"/>
    <parent link="press_base_link"/>
    <child link="light_curtain_emitter_front_link"/>
  </joint>
  <link name="reflective_sensor_klt_press">
    <inertial>
      <origin rpy="0 0 0" xyz="-0.010172 6.2215E-07 0.00078641"/>
      <mass value="0.009132"/>
      <inertia ixx="1.0016E-06" ixy="0" ixz="0" iyy="1.1697E-06" iyz="0" izz="4.3882E-07"/>
    </inertial>
    <visual>
      <geometry>
        <mesh filename="package://soto_klt_press_1_1_description/meshes/reflective_sensor.STL"/>
      </geometry>
      <material name="">
        <color rgba="1 1 1 1"/>
      </material>
    </visual>
    <collision>
      <origin rpy="0 0 0" xyz="-0.01 0 0.0015"/>
      <geometry>
        <box size="0.02 0.0136 0.032"/>
      </geometry>
    </collision>
  </link>
  <joint name="press_base_to_reflective_sensor" type="fixed">
    <origin rpy="0 0 0.63705" xyz="-0.57294 -0.29461 -0.098022"/>
    <parent link="press_base_link"/>
    <child link="reflective_sensor_klt_press"/>
  </joint>
  <link name="reflective_tape_klt_press">
    <!-- Assumes a (size, size, size) cube link -->
    <inertial>
      <origin xyz="0 0 0"/>
      <mass value="0.005"/>
      <inertia ixx="8.333333333333335e-06" ixy="0" ixz="0" iyy="8.333333333333335e-06" iyz="0" izz="8.333333333333335e-06"/>
    </inertial>
    <visual>
      <geometry>
        <box size="0.001 0.03 0.03"/>
      </geometry>
      <material name="">
        <color rgba="1 1 1 1"/>
      </material>
    </visual>
    <collision>
      <geometry>
        <box size="0.001 0.03 0.03"/>
      </geometry>
    </collision>
  </link>
  <joint name="press_base_to_reflective_tape" type="fixed">
    <origin rpy="0 0 0" xyz="0.3845 0.43 -0.098"/>
    <parent link="press_base_link"/>
    <child link="reflective_tape_klt_press"/>
  </joint>
  <link name="press_upper_limit_link"/>
  <joint name="press_base_to_upper_limit" type="fixed">
    <origin rpy="0 0 0" xyz="0 0 -0.005"/>
    <parent link="press_base_link"/>
    <child link="press_upper_limit_link"/>
  </joint>
  <joint name="base_to_backpack_base" type="fixed">
    <origin rpy="0 0 0" xyz="-0.26582 0.045 0.1535"/>
    <parent link="base_link"/>
    <child link="backpack_base_link"/>
  </joint>
  <link name="backpack_base_link">
    <inertial>
      <origin rpy="0 0 0" xyz="-0.335579 -0.131711 0.841435"/>
      <mass value="119.3"/>
      <inertia ixx="151.492794" ixy="4.538259" ixz="-34.246278" iyy="153.595002" iyz="-15.803417" izz="39.692906"/>
    </inertial>
    <visual>
      <geometry>
        <mesh filename="package://soto_backpack_5_1_description/meshes/backpack_base_link.STL"/>
      </geometry>
      <material name="">
        <color rgba="0.69804 0.69804 0.69804 1"/>
      </material>
    </visual>
    <collision>
      <geometry>
        <mesh filename="package://soto_backpack_5_1_description/meshes/backpack_base_link_col.STL"/>
      </geometry>
    </collision>
  </link>
  <link name="backpack_tilt_link">
    <!-- Assumes a (size, size, size) cube link -->
    <inertial>
      <origin xyz="0 0 0"/>
      <mass value="1"/>
      <inertia ixx="0.001666666666666667" ixy="0" ixz="0" iyy="0.001666666666666667" iyz="0" izz="0.001666666666666667"/>
    </inertial>
  </link>
  <joint name="backpack_tilt" type="revolute">
    <origin rpy="0 0 0" xyz="-0.45075 0.0005 0.0685"/>
    <parent link="backpack_base_link"/>
    <child link="backpack_tilt_link"/>
    <axis xyz="0 1 0"/>
    <limit effort="2468.18" lower="-0.115" upper="0.115" velocity="0.0353135"/>
  </joint>
  <!-- ====== START OF LAYERS ====== -->
  <joint name="backpack_base_to_layer_1" type="revolute">
    <origin rpy="0 0 0" xyz="-0.068 0 0.268"/>
    <parent link="backpack_base_link"/>
    <child link="backpack_layer_1_base_link"/>
    <axis xyz="0 1 0"/>
    <limit effort="2468.18" lower="-0.115" upper="0.115" velocity="0.0353135"/>
    <mimic joint="backpack_tilt" multiplier="1" offset="0"/>
  </joint>
  <link name="backpack_layer_1_base_link">
    <inertial>
      <origin rpy="0 0 0" xyz="0 0.040533 0"/>
      <mass value="12.78"/>
      <inertia ixx="0.775256" ixy="0" ixz="0" iyy="1.530399" iyz="0" izz="0.847638"/>
    </inertial>
    <visual>
      <geometry>
        <mesh filename="package://soto_backpack_layer_1_0_description/meshes/300/backpack_layer_base_link.STL"/>
      </geometry>
      <material name="">
        <color rgba="0.75294 0.75294 0.75294 1"/>
      </material>
    </visual>
    <collision>
      <geometry>
        <mesh filename="package://soto_backpack_layer_1_0_description/meshes/300/backpack_layer_base_link_col.STL"/>
      </geometry>
    </collision>
  </link>
  <link name="backpack_layer_1_link"/>
  <joint name="backpack_layer_1_base_to_layer" type="fixed">
    <origin rpy="0 0 -1.5708" xyz="0.0466 0 -0.15456"/>
    <parent link="backpack_layer_1_base_link"/>
    <child link="backpack_layer_1_link"/>
  </joint>
  <link name="backpack_layer_1_compartment_1_link"/>
  <joint name="backpack_layer_1_to_compartment_1" type="fixed">
    <origin rpy="0 0 0" xyz="-0.174 0 0"/>
    <parent link="backpack_layer_1_link"/>
    <child link="backpack_layer_1_compartment_1_link"/>
  </joint>
  <link name="backpack_layer_1_compartment_1_reference_1_link"/>
  <joint name="backpack_layer_1_compartment_1_to_reference_1" type="fixed">
    <origin rpy="0 0 0" xyz="-0.000749999999994533 0.10885 0.00142948789310615"/>
    <parent link="backpack_layer_1_compartment_1_link"/>
    <child link="backpack_layer_1_compartment_1_reference_1_link"/>
  </joint>
  <link name="backpack_layer_1_compartment_2_link"/>
  <joint name="backpack_layer_1_to_compartment_2" type="fixed">
    <origin rpy="0 0 0" xyz="0.174000000000006 0 0"/>
    <parent link="backpack_layer_1_link"/>
    <child link="backpack_layer_1_compartment_2_link"/>
  </joint>
  <link name="backpack_layer_1_compartment_2_reference_1_link"/>
  <joint name="backpack_layer_1_compartment_2_to_reference_1" type="fixed">
    <origin rpy="0 0 0" xyz="0.000749999999994394 0.10885 0.00142948789310616"/>
    <parent link="backpack_layer_1_compartment_2_link"/>
    <child link="backpack_layer_1_compartment_2_reference_1_link"/>
  </joint>
  <joint name="backpack_base_to_layer_2" type="revolute">
    <origin rpy="0 0 0" xyz="-0.068 0 0.668"/>
    <parent link="backpack_base_link"/>
    <child link="backpack_layer_2_base_link"/>
    <axis xyz="0 1 0"/>
    <limit effort="2468.18" lower="-0.115" upper="0.115" velocity="0.0353135"/>
    <mimic joint="backpack_tilt" multiplier="1" offset="0"/>
  </joint>
  <link name="backpack_layer_2_base_link">
    <inertial>
      <origin rpy="0 0 0" xyz="-0.23836 0 -0.14858"/>
      <mass value="10.12"/>
      <inertia ixx="0.791011" ixy="0" ixz="0" iyy="1.291287" iyz="0" izz="1.586023"/>
    </inertial>
    <visual>
      <geometry>
        <mesh filename="package://soto_backpack_layer_1_0_description/meshes/400/backpack_layer_base_link.STL"/>
      </geometry>
      <material name="">
        <color rgba="0.75294 0.75294 0.75294 1"/>
      </material>
    </visual>
    <collision>
      <geometry>
        <mesh filename="package://soto_backpack_layer_1_0_description/meshes/400/backpack_layer_base_link_col.STL"/>
      </geometry>
    </collision>
  </link>
  <link name="backpack_layer_2_link"/>
  <joint name="backpack_layer_2_base_to_layer" type="fixed">
    <origin rpy="0 0 -1.5708" xyz="0.0466 0 -0.15456"/>
    <parent link="backpack_layer_2_base_link"/>
    <child link="backpack_layer_2_link"/>
  </joint>
  <link name="backpack_layer_2_compartment_1_link"/>
  <joint name="backpack_layer_2_to_compartment_1" type="fixed">
    <origin rpy="0 0 0" xyz="0 0 0"/>
    <parent link="backpack_layer_2_link"/>
    <child link="backpack_layer_2_compartment_1_link"/>
  </joint>
  <link name="backpack_layer_2_compartment_1_reference_1_link"/>
  <joint name="backpack_layer_2_compartment_1_to_reference_1" type="fixed">
    <origin rpy="0 0 0" xyz="-0.0515 0.10885 0.0014295"/>
    <parent link="backpack_layer_2_compartment_1_link"/>
    <child link="backpack_layer_2_compartment_1_reference_1_link"/>
  </joint>
  <link name="backpack_layer_2_compartment_1_reference_2_link"/>
  <joint name="backpack_layer_2_compartment_1_to_reference_2" type="fixed">
    <origin rpy="0 0 0" xyz="0.0515 0.10885 0.0014295"/>
    <parent link="backpack_layer_2_compartment_1_link"/>
    <child link="backpack_layer_2_compartment_1_reference_2_link"/>
  </joint>
  <joint name="backpack_base_to_layer_3" type="revolute">
    <origin rpy="0 0 0" xyz="-0.068 0 1.0679999999999998"/>
    <parent link="backpack_base_link"/>
    <child link="backpack_layer_3_base_link"/>
    <axis xyz="0 1 0"/>
    <limit effort="2468.18" lower="-0.115" upper="0.115" velocity="0.0353135"/>
    <mimic joint="backpack_tilt" multiplier="1" offset="0"/>
  </joint>
  <link name="backpack_layer_3_base_link">
    <inertial>
      <origin rpy="0 0 0" xyz="-0.23175 0 -0.14936"/>
      <mass value="10.03"/>
      <inertia ixx="0.940346" ixy="0" ixz="0" iyy="1.283496" iyz="0" izz="1.732422"/>
    </inertial>
    <visual>
      <geometry>
        <mesh filename="package://soto_backpack_layer_1_0_description/meshes/600/backpack_layer_base_link.STL"/>
      </geometry>
      <material name="">
        <color rgba="0.75294 0.75294 0.75294 1"/>
      </material>
    </visual>
    <collision>
      <geometry>
        <mesh filename="package://soto_backpack_layer_1_0_description/meshes/600/backpack_layer_base_link_col.STL"/>
      </geometry>
    </collision>
  </link>
  <link name="backpack_layer_3_link"/>
  <joint name="backpack_layer_3_base_to_layer" type="fixed">
    <origin rpy="0 0 -1.5708" xyz="0.0466 0 -0.15456"/>
    <parent link="backpack_layer_3_base_link"/>
    <child link="backpack_layer_3_link"/>
  </joint>
  <link name="backpack_layer_3_compartment_1_link"/>
  <joint name="backpack_layer_3_to_compartment_1" type="fixed">
    <origin rpy="0 0 0" xyz="0 0 0"/>
    <parent link="backpack_layer_3_link"/>
    <child link="backpack_layer_3_compartment_1_link"/>
  </joint>
  <link name="backpack_layer_3_compartment_1_reference_1_link"/>
  <joint name="backpack_layer_3_compartment_1_to_reference_1" type="fixed">
    <origin rpy="0 0 0" xyz="-0.07225 0.10885 0.0014295"/>
    <parent link="backpack_layer_3_compartment_1_link"/>
    <child link="backpack_layer_3_compartment_1_reference_1_link"/>
  </joint>
  <link name="backpack_layer_3_compartment_1_reference_2_link"/>
  <joint name="backpack_layer_3_compartment_1_to_reference_2" type="fixed">
    <origin rpy="0 0 0" xyz="0.07225 0.10885 0.0014295"/>
    <parent link="backpack_layer_3_compartment_1_link"/>
    <child link="backpack_layer_3_compartment_1_reference_2_link"/>
  </joint>
  <joint name="backpack_base_to_layer_4" type="revolute">
    <origin rpy="0 0 0" xyz="-0.068 0 1.468"/>
    <parent link="backpack_base_link"/>
    <child link="backpack_layer_4_base_link"/>
    <axis xyz="0 1 0"/>
    <limit effort="2468.18" lower="-0.115" upper="0.115" velocity="0.0353135"/>
    <mimic joint="backpack_tilt" multiplier="1" offset="0"/>
  </joint>
  <link name="backpack_layer_4_base_link">
    <inertial>
      <origin rpy="0 0 0" xyz="-0.23175 0 -0.14936"/>
      <mass value="10.03"/>
      <inertia ixx="0.940346" ixy="0" ixz="0" iyy="1.283496" iyz="0" izz="1.732422"/>
    </inertial>
    <visual>
      <geometry>
        <mesh filename="package://soto_backpack_layer_1_0_description/meshes/600/backpack_layer_base_link.STL"/>
      </geometry>
      <material name="">
        <color rgba="0.75294 0.75294 0.75294 1"/>
      </material>
    </visual>
    <collision>
      <geometry>
        <mesh filename="package://soto_backpack_layer_1_0_description/meshes/600/backpack_layer_base_link_col.STL"/>
      </geometry>
    </collision>
  </link>
  <link name="backpack_layer_4_link"/>
  <joint name="backpack_layer_4_base_to_layer" type="fixed">
    <origin rpy="0 0 -1.5708" xyz="0.0466 0 -0.15456"/>
    <parent link="backpack_layer_4_base_link"/>
    <child link="backpack_layer_4_link"/>
  </joint>
  <link name="backpack_layer_4_compartment_1_link"/>
  <joint name="backpack_layer_4_to_compartment_1" type="fixed">
    <origin rpy="0 0 0" xyz="0 0 0"/>
    <parent link="backpack_layer_4_link"/>
    <child link="backpack_layer_4_compartment_1_link"/>
  </joint>
  <link name="backpack_layer_4_compartment_1_reference_1_link"/>
  <joint name="backpack_layer_4_compartment_1_to_reference_1" type="fixed">
    <origin rpy="0 0 0" xyz="-0.07225 0.10885 0.0014295"/>
    <parent link="backpack_layer_4_compartment_1_link"/>
    <child link="backpack_layer_4_compartment_1_reference_1_link"/>
  </joint>
  <link name="backpack_layer_4_compartment_1_reference_2_link"/>
  <joint name="backpack_layer_4_compartment_1_to_reference_2" type="fixed">
    <origin rpy="0 0 0" xyz="0.07225 0.10885 0.0014295"/>
    <parent link="backpack_layer_4_compartment_1_link"/>
    <child link="backpack_layer_4_compartment_1_reference_2_link"/>
  </joint>
  <!-- ====== END OF LAYERS ====== -->
  <link name="charger_connector">
    <inertial>
      <origin rpy="0 0 0" xyz="0 0 0"/>
      <mass value="2.5"/>
      <inertia ixx="0.02604167" ixy="0" ixz="0" iyy="0.01308413" iyz="0" izz="0.01308413"/>
    </inertial>
    <visual>
      <geometry>
        <mesh filename="package://soto_backpack_5_1_description/meshes/charger_connector.STL"/>
      </geometry>
      <material name="">
        <color rgba="0 0.4510 0.8275 1"/>
      </material>
    </visual>
  </link>
  <joint name="backpack_base_to_charger_connector" type="fixed">
    <origin rpy="-1.5708 0 1.5708" xyz="-0.41931 0.48443 0.17425"/>
    <parent link="backpack_base_link"/>
    <child link="charger_connector"/>
  </joint>
  <link name="nav_depth_camera_rear_link">
    <inertial>
      <origin rpy="0 0 0" xyz="-0.025274 0.00013854 -0.023398"/>
      <mass value="1.0"/>
      <inertia ixx="0.00081667" ixy="0" ixz="0" iyy="0.00094167" iyz="0" izz="0.00094167"/>
    </inertial>
    <visual>
      <geometry>
        <mesh filename="package://soto_backpack_5_1_description/meshes/nav_depth_camera_rear_link.STL"/>
      </geometry>
      <material name="">
        <color rgba="0 0.292 0.403 1"/>
      </material>
    </visual>
    <collision>
      <origin rpy="0 0 0" xyz="0.0125 -0.01475 -0.035"/>
      <geometry>
        <box size="0.08 0.07 0.07"/>
      </geometry>
    </collision>
  </link>
  <joint name="nav_depth_camera_rear" type="fixed">
    <origin rpy="-2.32129 0.0 1.5708" xyz="-0.77839 -0.0572 1.74081"/>
    <parent link="backpack_base_link"/>
    <child link="nav_depth_camera_rear_link"/>
  </joint>
  <link name="light_curtain_emitter_rear_link">
    <inertial>
      <origin rpy="0 0 0" xyz="-0.013451 0 0"/>
      <mass value="0.63959"/>
      <inertia ixx="0.03084176" ixy="0" ixz="0" iyy="0.00013446" iyz="0" izz="0.03082808"/>
    </inertial>
    <visual>
      <geometry>
        <mesh filename="package://soto_backpack_5_1_description/meshes/light_curtain_emitter_rear_link.STL"/>
      </geometry>
      <material name="">
        <color rgba="0.9780 0.8557 0 1"/>
      </material>
    </visual>
    <collision>
      <origin rpy="1.5708 0 0" xyz="-0.015 0 0"/>
      <geometry>
        <cylinder length="0.7625" radius="0.015"/>
      </geometry>
    </collision>
  </link>
  <joint name="base_to_light_curtain_emitter_rear" type="fixed">
    <origin rpy="3.1416 1.5708 0" xyz="-0.777 -0.046458 1.6655"/>
    <parent link="backpack_base_link"/>
    <child link="light_curtain_emitter_rear_link"/>
  </joint>
  <link name="light_curtain_receiver_rear_link">
    <inertial>
      <origin rpy="0 0 0" xyz="-0.013451 0.00046065 0"/>
      <mass value="0.63959"/>
      <inertia ixx="0.03084176" ixy="0" ixz="0" iyy="0.00013446" iyz="0" izz="0.03082808"/>
    </inertial>
    <visual>
      <geometry>
        <mesh filename="package://soto_backpack_5_1_description/meshes/light_curtain_receiver_rear_link.STL"/>
      </geometry>
      <material name="">
        <color rgba="0.9780 0.8557 0 1"/>
      </material>
    </visual>
    <collision>
      <origin rpy="1.5708 0 0" xyz="-0.015 0 0"/>
      <geometry>
        <cylinder length="0.7625" radius="0.015"/>
      </geometry>
    </collision>
  </link>
  <joint name="base_to_light_curtain_receiver_rear" type="fixed">
    <origin rpy="0 -1.5708 0" xyz="-0.777 -0.04594 -0.00093012"/>
    <parent link="backpack_base_link"/>
    <child link="light_curtain_receiver_rear_link"/>
  </joint>
  <link name="blue_spot_rear_link"/>
  <joint name="blue_spot_rear" type="fixed">
    <origin rpy="0 2.32129 0" xyz="-0.77839 -0.1632 1.74081"/>
    <parent link="backpack_base_link"/>
    <child link="blue_spot_rear_link"/>
  </joint>
  <link name="design_elements_link">
    <inertial>
      <origin rpy="0 0 0" xyz="0.10328 -0.024946 1.1175"/>
      <mass value="54.496"/>
      <inertia ixx="107.138" ixy="0.583689" ixz="6.542658" iyy="128.01832" iyz="-1.172259" izz="39.539432"/>
    </inertial>
    <visual>
      <geometry>
        <mesh filename="package://soto_2_1_description/meshes/design_elements_link.STL"/>
      </geometry>
      <material name="">
        <color rgba="0.69804 0.69804 0.69804 1"/>
      </material>
    </visual>
  </link>
  <joint name="base_to_design_elements" type="fixed">
    <parent link="base_link"/>
    <child link="design_elements_link"/>
  </joint>

  <link name="cylinder_left_4">
		<visual>
			<geometry>
				<cylinder length="0.05" radius="0.003"/>
			</geometry>
			<origin rpy="-1.57075 -1.57075 0"/>
			<material name="black"/>
		</visual>
		<collision>
			<geometry>
				<cylinder length="0.05" radius="0.003"/>
			</geometry>
			<origin rpy="-1.57075 -1.57075 0"/>
		</collision>
		<inertial>
			<origin rpy="-1.57075 -1.57075 0"/>
			<mass value="0.3"/>
			<inertia ixx="0.4" ixy="0" ixz="0" iyy="0.4" iyz="0.0" izz="0.2"/>
		</inertial>
	</link>
	<joint name="cylinder_left_4_to_belt" type="revolute">
		<parent link="conveyor_belt_left_foremost_link"/>
		<child link="cylinder_left_4"/>
		<axis xyz="0 1 0"/>
		<origin xyz="-0.68 0.0 0.005"/>
		<limit effort="100" lower="-100" upper="100" velocity="100"/>
	</joint>

	<link name="cylinder_left_5">
		<visual>
			<geometry>
				<cylinder length="0.05" radius="0.003"/>
			</geometry>
			<origin rpy="-1.57075 -1.57075 0"/>
			<material name="black"/>
		</visual>
		<collision>
			<geometry>
				<cylinder length="0.05" radius="0.003"/>
			</geometry>
			<origin rpy="-1.57075 -1.57075 0"/>
		</collision>
		<inertial>
			<origin rpy="-1.57075 -1.57075 0"/>
			<mass value="0.3"/>
			<inertia ixx="0.4" ixy="0" ixz="0" iyy="0.4" iyz="0.0" izz="0.2"/>
		</inertial>
	</link>
	<joint name="cylinder_left_5_to_belt" type="revolute">
		<parent link="conveyor_belt_left_foremost_link"/>
		<child link="cylinder_left_5"/>
		<axis xyz="0 1 0"/>
		<origin xyz="-0.655 0.0 0.005"/>
		<limit effort="100" lower="-100" upper="100" velocity="100"/>
	</joint>
	<link name="cylinder_left_6">
		<visual>
			<geometry>
				<cylinder length="0.05" radius="0.003"/>
			</geometry>
			<origin rpy="-1.57075 -1.57075 0"/>
			<material name="black"/>
		</visual>
		<collision>
			<geometry>
				<cylinder length="0.05" radius="0.003"/>
			</geometry>
			<origin rpy="-1.57075 -1.57075 0"/>
		</collision>
		<inertial>
			<origin rpy="-1.57075 -1.57075 0"/>
			<mass value="0.3"/>
			<inertia ixx="0.4" ixy="0" ixz="0" iyy="0.4" iyz="0.0" izz="0.2"/>
		</inertial>
	</link>
	<joint name="cylinder_left_6_to_belt" type="revolute">
		<parent link="conveyor_belt_left_foremost_link"/>
		<child link="cylinder_left_6"/>
		<axis xyz="0 1 0"/>
		<origin xyz="-0.63 0.0 0.005"/>
		<limit effort="100" lower="-100" upper="100" velocity="100"/>
	</joint>
	<link name="cylinder_left_7">
		<visual>
			<geometry>
				<cylinder length="0.05" radius="0.003"/>
			</geometry>
			<origin rpy="-1.57075 -1.57075 0"/>
			<material name="black"/>
		</visual>
		<collision>
			<geometry>
				<cylinder length="0.05" radius="0.003"/>
			</geometry>
			<origin rpy="-1.57075 -1.57075 0"/>
		</collision>
		<inertial>
			<origin rpy="-1.57075 -1.57075 0"/>
			<mass value="0.3"/>
			<inertia ixx="0.4" ixy="0" ixz="0" iyy="0.4" iyz="0.0" izz="0.2"/>
		</inertial>
	</link>
	<joint name="cylinder_left_7_to_belt" type="revolute">
		<parent link="conveyor_belt_left_foremost_link"/>
		<child link="cylinder_left_7"/>
		<axis xyz="0 1 0"/>
		<origin xyz="-0.605 0.0 0.005"/>
		<limit effort="100" lower="-100" upper="100" velocity="100"/>
	</joint>
	<link name="cylinder_left_8">
		<visual>
			<geometry>
				<cylinder length="0.05" radius="0.003"/>
			</geometry>
			<origin rpy="-1.57075 -1.57075 0"/>
			<material name="black"/>
		</visual>
		<collision>
			<geometry>
				<cylinder length="0.05" radius="0.003"/>
			</geometry>
			<origin rpy="-1.57075 -1.57075 0"/>
		</collision>
		<inertial>
			<origin rpy="-1.57075 -1.57075 0"/>
			<mass value="0.3"/>
			<inertia ixx="0.4" ixy="0" ixz="0" iyy="0.4" iyz="0.0" izz="0.2"/>
		</inertial>
	</link>
	<joint name="cylinder_left_8_to_belt" type="revolute">
		<parent link="conveyor_belt_left_foremost_link"/>
		<child link="cylinder_left_8"/>
		<axis xyz="0 1 0"/>
		<origin xyz="-0.5800000000000001 0.0 0.005"/>
		<limit effort="100" lower="-100" upper="100" velocity="100"/>
	</joint>
	<link name="cylinder_left_9">
		<visual>
			<geometry>
				<cylinder length="0.05" radius="0.003"/>
			</geometry>
			<origin rpy="-1.57075 -1.57075 0"/>
			<material name="black"/>
		</visual>
		<collision>
			<geometry>
				<cylinder length="0.05" radius="0.003"/>
			</geometry>
			<origin rpy="-1.57075 -1.57075 0"/>
		</collision>
		<inertial>
			<origin rpy="-1.57075 -1.57075 0"/>
			<mass value="0.3"/>
			<inertia ixx="0.4" ixy="0" ixz="0" iyy="0.4" iyz="0.0" izz="0.2"/>
		</inertial>
	</link>
	<joint name="cylinder_left_9_to_belt" type="revolute">
		<parent link="conveyor_belt_left_foremost_link"/>
		<child link="cylinder_left_9"/>
		<axis xyz="0 1 0"/>
		<origin xyz="-0.555 0.0 0.005"/>
		<limit effort="100" lower="-100" upper="100" velocity="100"/>
	</joint>
	<link name="cylinder_left_10">
		<visual>
			<geometry>
				<cylinder length="0.05" radius="0.003"/>
			</geometry>
			<origin rpy="-1.57075 -1.57075 0"/>
			<material name="black"/>
		</visual>
		<collision>
			<geometry>
				<cylinder length="0.05" radius="0.003"/>
			</geometry>
			<origin rpy="-1.57075 -1.57075 0"/>
		</collision>
		<inertial>
			<origin rpy="-1.57075 -1.57075 0"/>
			<mass value="0.3"/>
			<inertia ixx="0.4" ixy="0" ixz="0" iyy="0.4" iyz="0.0" izz="0.2"/>
		</inertial>
	</link>
	<joint name="cylinder_left_10_to_belt" type="revolute">
		<parent link="conveyor_belt_left_foremost_link"/>
		<child link="cylinder_left_10"/>
		<axis xyz="0 1 0"/>
		<origin xyz="-0.53 0.0 0.005"/>
		<limit effort="100" lower="-100" upper="100" velocity="100"/>
	</joint>
	<link name="cylinder_left_11">
		<visual>
			<geometry>
				<cylinder length="0.05" radius="0.003"/>
			</geometry>
			<origin rpy="-1.57075 -1.57075 0"/>
			<material name="black"/>
		</visual>
		<collision>
			<geometry>
				<cylinder length="0.05" radius="0.003"/>
			</geometry>
			<origin rpy="-1.57075 -1.57075 0"/>
		</collision>
		<inertial>
			<origin rpy="-1.57075 -1.57075 0"/>
			<mass value="0.3"/>
			<inertia ixx="0.4" ixy="0" ixz="0" iyy="0.4" iyz="0.0" izz="0.2"/>
		</inertial>
	</link>
	<joint name="cylinder_left_11_to_belt" type="revolute">
		<parent link="conveyor_belt_left_foremost_link"/>
		<child link="cylinder_left_11"/>
		<axis xyz="0 1 0"/>
		<origin xyz="-0.505 0.0 0.005"/>
		<limit effort="100" lower="-100" upper="100" velocity="100"/>
	</joint>
	<link name="cylinder_left_12">
		<visual>
			<geometry>
				<cylinder length="0.05" radius="0.003"/>
			</geometry>
			<origin rpy="-1.57075 -1.57075 0"/>
			<material name="black"/>
		</visual>
		<collision>
			<geometry>
				<cylinder length="0.05" radius="0.003"/>
			</geometry>
			<origin rpy="-1.57075 -1.57075 0"/>
		</collision>
		<inertial>
			<origin rpy="-1.57075 -1.57075 0"/>
			<mass value="0.3"/>
			<inertia ixx="0.4" ixy="0" ixz="0" iyy="0.4" iyz="0.0" izz="0.2"/>
		</inertial>
	</link>
	<joint name="cylinder_left_12_to_belt" type="revolute">
		<parent link="conveyor_belt_left_foremost_link"/>
		<child link="cylinder_left_12"/>
		<axis xyz="0 1 0"/>
		<origin xyz="-0.48 0.0 0.005"/>
		<limit effort="100" lower="-100" upper="100" velocity="100"/>
	</joint>
	<link name="cylinder_left_13">
		<visual>
			<geometry>
				<cylinder length="0.05" radius="0.003"/>
			</geometry>
			<origin rpy="-1.57075 -1.57075 0"/>
			<material name="black"/>
		</visual>
		<collision>
			<geometry>
				<cylinder length="0.05" radius="0.003"/>
			</geometry>
			<origin rpy="-1.57075 -1.57075 0"/>
		</collision>
		<inertial>
			<origin rpy="-1.57075 -1.57075 0"/>
			<mass value="0.3"/>
			<inertia ixx="0.4" ixy="0" ixz="0" iyy="0.4" iyz="0.0" izz="0.2"/>
		</inertial>
	</link>
	<joint name="cylinder_left_13_to_belt" type="revolute">
		<parent link="conveyor_belt_left_foremost_link"/>
		<child link="cylinder_left_13"/>
		<axis xyz="0 1 0"/>
		<origin xyz="-0.455 0.0 0.005"/>
		<limit effort="100" lower="-100" upper="100" velocity="100"/>
	</joint>
	<link name="cylinder_left_14">
		<visual>
			<geometry>
				<cylinder length="0.05" radius="0.003"/>
			</geometry>
			<origin rpy="-1.57075 -1.57075 0"/>
			<material name="black"/>
		</visual>
		<collision>
			<geometry>
				<cylinder length="0.05" radius="0.003"/>
			</geometry>
			<origin rpy="-1.57075 -1.57075 0"/>
		</collision>
		<inertial>
			<origin rpy="-1.57075 -1.57075 0"/>
			<mass value="0.3"/>
			<inertia ixx="0.4" ixy="0" ixz="0" iyy="0.4" iyz="0.0" izz="0.2"/>
		</inertial>
	</link>
	<joint name="cylinder_left_14_to_belt" type="revolute">
		<parent link="conveyor_belt_left_foremost_link"/>
		<child link="cylinder_left_14"/>
		<axis xyz="0 1 0"/>
		<origin xyz="-0.43 0.0 0.005"/>
		<limit effort="100" lower="-100" upper="100" velocity="100"/>
	</joint>
	<link name="cylinder_left_15">
		<visual>
			<geometry>
				<cylinder length="0.05" radius="0.003"/>
			</geometry>
			<origin rpy="-1.57075 -1.57075 0"/>
			<material name="black"/>
		</visual>
		<collision>
			<geometry>
				<cylinder length="0.05" radius="0.003"/>
			</geometry>
			<origin rpy="-1.57075 -1.57075 0"/>
		</collision>
		<inertial>
			<origin rpy="-1.57075 -1.57075 0"/>
			<mass value="0.3"/>
			<inertia ixx="0.4" ixy="0" ixz="0" iyy="0.4" iyz="0.0" izz="0.2"/>
		</inertial>
	</link>
	<joint name="cylinder_left_15_to_belt" type="revolute">
		<parent link="conveyor_belt_left_foremost_link"/>
		<child link="cylinder_left_15"/>
		<axis xyz="0 1 0"/>
		<origin xyz="-0.405 0.0 0.005"/>
		<limit effort="100" lower="-100" upper="100" velocity="100"/>
	</joint>
	<link name="cylinder_left_16">
		<visual>
			<geometry>
				<cylinder length="0.05" radius="0.003"/>
			</geometry>
			<origin rpy="-1.57075 -1.57075 0"/>
			<material name="black"/>
		</visual>
		<collision>
			<geometry>
				<cylinder length="0.05" radius="0.003"/>
			</geometry>
			<origin rpy="-1.57075 -1.57075 0"/>
		</collision>
		<inertial>
			<origin rpy="-1.57075 -1.57075 0"/>
			<mass value="0.3"/>
			<inertia ixx="0.4" ixy="0" ixz="0" iyy="0.4" iyz="0.0" izz="0.2"/>
		</inertial>
	</link>
	<joint name="cylinder_left_16_to_belt" type="revolute">
		<parent link="conveyor_belt_left_foremost_link"/>
		<child link="cylinder_left_16"/>
		<axis xyz="0 1 0"/>
		<origin xyz="-0.38 0.0 0.005"/>
		<limit effort="100" lower="-100" upper="100" velocity="100"/>
	</joint>
	<link name="cylinder_left_17">
		<visual>
			<geometry>
				<cylinder length="0.05" radius="0.003"/>
			</geometry>
			<origin rpy="-1.57075 -1.57075 0"/>
			<material name="black"/>
		</visual>
		<collision>
			<geometry>
				<cylinder length="0.05" radius="0.003"/>
			</geometry>
			<origin rpy="-1.57075 -1.57075 0"/>
		</collision>
		<inertial>
			<origin rpy="-1.57075 -1.57075 0"/>
			<mass value="0.3"/>
			<inertia ixx="0.4" ixy="0" ixz="0" iyy="0.4" iyz="0.0" izz="0.2"/>
		</inertial>
	</link>
	<joint name="cylinder_left_17_to_belt" type="revolute">
		<parent link="conveyor_belt_left_foremost_link"/>
		<child link="cylinder_left_17"/>
		<axis xyz="0 1 0"/>
		<origin xyz="-0.355 0.0 0.005"/>
		<limit effort="100" lower="-100" upper="100" velocity="100"/>
	</joint>
	<link name="cylinder_left_18">
		<visual>
			<geometry>
				<cylinder length="0.05" radius="0.003"/>
			</geometry>
			<origin rpy="-1.57075 -1.57075 0"/>
			<material name="black"/>
		</visual>
		<collision>
			<geometry>
				<cylinder length="0.05" radius="0.003"/>
			</geometry>
			<origin rpy="-1.57075 -1.57075 0"/>
		</collision>
		<inertial>
			<origin rpy="-1.57075 -1.57075 0"/>
			<mass value="0.3"/>
			<inertia ixx="0.4" ixy="0" ixz="0" iyy="0.4" iyz="0.0" izz="0.2"/>
		</inertial>
	</link>
	<joint name="cylinder_left_18_to_belt" type="revolute">
		<parent link="conveyor_belt_left_foremost_link"/>
		<child link="cylinder_left_18"/>
		<axis xyz="0 1 0"/>
		<origin xyz="-0.33 0.0 0.005"/>
		<limit effort="100" lower="-100" upper="100" velocity="100"/>
	</joint>
	<link name="cylinder_left_19">
		<visual>
			<geometry>
				<cylinder length="0.05" radius="0.003"/>
			</geometry>
			<origin rpy="-1.57075 -1.57075 0"/>
			<material name="black"/>
		</visual>
		<collision>
			<geometry>
				<cylinder length="0.05" radius="0.003"/>
			</geometry>
			<origin rpy="-1.57075 -1.57075 0"/>
		</collision>
		<inertial>
			<origin rpy="-1.57075 -1.57075 0"/>
			<mass value="0.3"/>
			<inertia ixx="0.4" ixy="0" ixz="0" iyy="0.4" iyz="0.0" izz="0.2"/>
		</inertial>
	</link>
	<joint name="cylinder_left_19_to_belt" type="revolute">
		<parent link="conveyor_belt_left_foremost_link"/>
		<child link="cylinder_left_19"/>
		<axis xyz="0 1 0"/>
		<origin xyz="-0.305 0.0 0.005"/>
		<limit effort="100" lower="-100" upper="100" velocity="100"/>
	</joint>
	<link name="cylinder_left_20">
		<visual>
			<geometry>
				<cylinder length="0.05" radius="0.003"/>
			</geometry>
			<origin rpy="-1.57075 -1.57075 0"/>
			<material name="black"/>
		</visual>
		<collision>
			<geometry>
				<cylinder length="0.05" radius="0.003"/>
			</geometry>
			<origin rpy="-1.57075 -1.57075 0"/>
		</collision>
		<inertial>
			<origin rpy="-1.57075 -1.57075 0"/>
			<mass value="0.3"/>
			<inertia ixx="0.4" ixy="0" ixz="0" iyy="0.4" iyz="0.0" izz="0.2"/>
		</inertial>
	</link>
	<joint name="cylinder_left_20_to_belt" type="revolute">
		<parent link="conveyor_belt_left_foremost_link"/>
		<child link="cylinder_left_20"/>
		<axis xyz="0 1 0"/>
		<origin xyz="-0.28 0.0 0.005"/>
		<limit effort="100" lower="-100" upper="100" velocity="100"/>
	</joint>
	<link name="cylinder_left_21">
		<visual>
			<geometry>
				<cylinder length="0.05" radius="0.003"/>
			</geometry>
			<origin rpy="-1.57075 -1.57075 0"/>
			<material name="black"/>
		</visual>
		<collision>
			<geometry>
				<cylinder length="0.05" radius="0.003"/>
			</geometry>
			<origin rpy="-1.57075 -1.57075 0"/>
		</collision>
		<inertial>
			<origin rpy="-1.57075 -1.57075 0"/>
			<mass value="0.3"/>
			<inertia ixx="0.4" ixy="0" ixz="0" iyy="0.4" iyz="0.0" izz="0.2"/>
		</inertial>
	</link>
	<joint name="cylinder_left_21_to_belt" type="revolute">
		<parent link="conveyor_belt_left_foremost_link"/>
		<child link="cylinder_left_21"/>
		<axis xyz="0 1 0"/>
		<origin xyz="-0.255 0.0 0.005"/>
		<limit effort="100" lower="-100" upper="100" velocity="100"/>
	</joint>
	<link name="cylinder_left_22">
		<visual>
			<geometry>
				<cylinder length="0.05" radius="0.003"/>
			</geometry>
			<origin rpy="-1.57075 -1.57075 0"/>
			<material name="black"/>
		</visual>
		<collision>
			<geometry>
				<cylinder length="0.05" radius="0.003"/>
			</geometry>
			<origin rpy="-1.57075 -1.57075 0"/>
		</collision>
		<inertial>
			<origin rpy="-1.57075 -1.57075 0"/>
			<mass value="0.3"/>
			<inertia ixx="0.4" ixy="0" ixz="0" iyy="0.4" iyz="0.0" izz="0.2"/>
		</inertial>
	</link>
	<joint name="cylinder_left_22_to_belt" type="revolute">
		<parent link="conveyor_belt_left_foremost_link"/>
		<child link="cylinder_left_22"/>
		<axis xyz="0 1 0"/>
		<origin xyz="-0.22999999999999998 0.0 0.005"/>
		<limit effort="100" lower="-100" upper="100" velocity="100"/>
	</joint>
	<link name="cylinder_left_23">
		<visual>
			<geometry>
				<cylinder length="0.05" radius="0.003"/>
			</geometry>
			<origin rpy="-1.57075 -1.57075 0"/>
			<material name="black"/>
		</visual>
		<collision>
			<geometry>
				<cylinder length="0.05" radius="0.003"/>
			</geometry>
			<origin rpy="-1.57075 -1.57075 0"/>
		</collision>
		<inertial>
			<origin rpy="-1.57075 -1.57075 0"/>
			<mass value="0.3"/>
			<inertia ixx="0.4" ixy="0" ixz="0" iyy="0.4" iyz="0.0" izz="0.2"/>
		</inertial>
	</link>
	<joint name="cylinder_left_23_to_belt" type="revolute">
		<parent link="conveyor_belt_left_foremost_link"/>
		<child link="cylinder_left_23"/>
		<axis xyz="0 1 0"/>
		<origin xyz="-0.20499999999999996 0.0 0.005"/>
		<limit effort="100" lower="-100" upper="100" velocity="100"/>
	</joint>
	<link name="cylinder_left_24">
		<visual>
			<geometry>
				<cylinder length="0.05" radius="0.003"/>
			</geometry>
			<origin rpy="-1.57075 -1.57075 0"/>
			<material name="black"/>
		</visual>
		<collision>
			<geometry>
				<cylinder length="0.05" radius="0.003"/>
			</geometry>
			<origin rpy="-1.57075 -1.57075 0"/>
		</collision>
		<inertial>
			<origin rpy="-1.57075 -1.57075 0"/>
			<mass value="0.3"/>
			<inertia ixx="0.4" ixy="0" ixz="0" iyy="0.4" iyz="0.0" izz="0.2"/>
		</inertial>
	</link>
	<joint name="cylinder_left_24_to_belt" type="revolute">
		<parent link="conveyor_belt_left_foremost_link"/>
		<child link="cylinder_left_24"/>
		<axis xyz="0 1 0"/>
		<origin xyz="-0.17999999999999994 0.0 0.005"/>
		<limit effort="100" lower="-100" upper="100" velocity="100"/>
	</joint>
	<link name="cylinder_left_25">
		<visual>
			<geometry>
				<cylinder length="0.05" radius="0.003"/>
			</geometry>
			<origin rpy="-1.57075 -1.57075 0"/>
			<material name="black"/>
		</visual>
		<collision>
			<geometry>
				<cylinder length="0.05" radius="0.003"/>
			</geometry>
			<origin rpy="-1.57075 -1.57075 0"/>
		</collision>
		<inertial>
			<origin rpy="-1.57075 -1.57075 0"/>
			<mass value="0.3"/>
			<inertia ixx="0.4" ixy="0" ixz="0" iyy="0.4" iyz="0.0" izz="0.2"/>
		</inertial>
	</link>
	<joint name="cylinder_left_25_to_belt" type="revolute">
		<parent link="conveyor_belt_left_foremost_link"/>
		<child link="cylinder_left_25"/>
		<axis xyz="0 1 0"/>
		<origin xyz="-0.15500000000000003 0.0 0.005"/>
		<limit effort="100" lower="-100" upper="100" velocity="100"/>
	</joint>
	<link name="cylinder_left_26">
		<visual>
			<geometry>
				<cylinder length="0.05" radius="0.003"/>
			</geometry>
			<origin rpy="-1.57075 -1.57075 0"/>
			<material name="black"/>
		</visual>
		<collision>
			<geometry>
				<cylinder length="0.05" radius="0.003"/>
			</geometry>
			<origin rpy="-1.57075 -1.57075 0"/>
		</collision>
		<inertial>
			<origin rpy="-1.57075 -1.57075 0"/>
			<mass value="0.3"/>
			<inertia ixx="0.4" ixy="0" ixz="0" iyy="0.4" iyz="0.0" izz="0.2"/>
		</inertial>
	</link>
	<joint name="cylinder_left_26_to_belt" type="revolute">
		<parent link="conveyor_belt_left_foremost_link"/>
		<child link="cylinder_left_26"/>
		<axis xyz="0 1 0"/>
		<origin xyz="-0.13 0.0 0.005"/>
		<limit effort="100" lower="-100" upper="100" velocity="100"/>
	</joint>
	<link name="cylinder_left_27">
		<visual>
			<geometry>
				<cylinder length="0.05" radius="0.003"/>
			</geometry>
			<origin rpy="-1.57075 -1.57075 0"/>
			<material name="black"/>
		</visual>
		<collision>
			<geometry>
				<cylinder length="0.05" radius="0.003"/>
			</geometry>
			<origin rpy="-1.57075 -1.57075 0"/>
		</collision>
		<inertial>
			<origin rpy="-1.57075 -1.57075 0"/>
			<mass value="0.3"/>
			<inertia ixx="0.4" ixy="0" ixz="0" iyy="0.4" iyz="0.0" izz="0.2"/>
		</inertial>
	</link>
	<joint name="cylinder_left_27_to_belt" type="revolute">
		<parent link="conveyor_belt_left_foremost_link"/>
		<child link="cylinder_left_27"/>
		<axis xyz="0 1 0"/>
		<origin xyz="-0.10499999999999998 0.0 0.005"/>
		<limit effort="100" lower="-100" upper="100" velocity="100"/>
	</joint>
	<link name="cylinder_left_28">
		<visual>
			<geometry>
				<cylinder length="0.05" radius="0.003"/>
			</geometry>
			<origin rpy="-1.57075 -1.57075 0"/>
			<material name="black"/>
		</visual>
		<collision>
			<geometry>
				<cylinder length="0.05" radius="0.003"/>
			</geometry>
			<origin rpy="-1.57075 -1.57075 0"/>
		</collision>
		<inertial>
			<origin rpy="-1.57075 -1.57075 0"/>
			<mass value="0.3"/>
			<inertia ixx="0.4" ixy="0" ixz="0" iyy="0.4" iyz="0.0" izz="0.2"/>
		</inertial>
	</link>
	<joint name="cylinder_left_28_to_belt" type="revolute">
		<parent link="conveyor_belt_left_foremost_link"/>
		<child link="cylinder_left_28"/>
		<axis xyz="0 1 0"/>
		<origin xyz="-0.07999999999999996 0.0 0.005"/>
		<limit effort="100" lower="-100" upper="100" velocity="100"/>
	</joint>
	<link name="cylinder_left_29">
		<visual>
			<geometry>
				<cylinder length="0.05" radius="0.003"/>
			</geometry>
			<origin rpy="-1.57075 -1.57075 0"/>
			<material name="black"/>
		</visual>
		<collision>
			<geometry>
				<cylinder length="0.05" radius="0.003"/>
			</geometry>
			<origin rpy="-1.57075 -1.57075 0"/>
		</collision>
		<inertial>
			<origin rpy="-1.57075 -1.57075 0"/>
			<mass value="0.3"/>
			<inertia ixx="0.4" ixy="0" ixz="0" iyy="0.4" iyz="0.0" izz="0.2"/>
		</inertial>
	</link>
	<joint name="cylinder_left_29_to_belt" type="revolute">
		<parent link="conveyor_belt_left_foremost_link"/>
		<child link="cylinder_left_29"/>
		<axis xyz="0 1 0"/>
		<origin xyz="-0.05499999999999994 0.0 0.005"/>
		<limit effort="100" lower="-100" upper="100" velocity="100"/>
	</joint>
	<link name="cylinder_left_30">
		<visual>
			<geometry>
				<cylinder length="0.05" radius="0.003"/>
			</geometry>
			<origin rpy="-1.57075 -1.57075 0"/>
			<material name="black"/>
		</visual>
		<collision>
			<geometry>
				<cylinder length="0.05" radius="0.003"/>
			</geometry>
			<origin rpy="-1.57075 -1.57075 0"/>
		</collision>
		<inertial>
			<origin rpy="-1.57075 -1.57075 0"/>
			<mass value="0.3"/>
			<inertia ixx="0.4" ixy="0" ixz="0" iyy="0.4" iyz="0.0" izz="0.2"/>
		</inertial>
	</link>
	<joint name="cylinder_left_30_to_belt" type="revolute">
		<parent link="conveyor_belt_left_foremost_link"/>
		<child link="cylinder_left_30"/>
		<axis xyz="0 1 0"/>
		<origin xyz="-0.030000000000000027 0.0 0.005"/>
		<limit effort="100" lower="-100" upper="100" velocity="100"/>
	</joint>
	<link name="cylinder_left_31">
		<visual>
			<geometry>
				<cylinder length="0.05" radius="0.003"/>
			</geometry>
			<origin rpy="-1.57075 -1.57075 0"/>
			<material name="black"/>
		</visual>
		<collision>
			<geometry>
				<cylinder length="0.05" radius="0.003"/>
			</geometry>
			<origin rpy="-1.57075 -1.57075 0"/>
		</collision>
		<inertial>
			<origin rpy="-1.57075 -1.57075 0"/>
			<mass value="0.3"/>
			<inertia ixx="0.4" ixy="0" ixz="0" iyy="0.4" iyz="0.0" izz="0.2"/>
		</inertial>
	</link>
	<joint name="cylinder_left_31_to_belt" type="revolute">
		<parent link="conveyor_belt_left_foremost_link"/>
		<child link="cylinder_left_31"/>
		<axis xyz="0 1 0"/>
		<origin xyz="-0.0043 0.0 -0.00"/>
		<limit effort="100" lower="-100" upper="100" velocity="100"/>
	</joint>




  <link name="cylinder_right_4">
		<visual>
			<geometry>
				<cylinder length="0.05" radius="0.003"/>
			</geometry>
			<origin rpy="-1.57075 -1.57075 0"/>
			<material name="black"/>
		</visual>
		<collision>
			<geometry>
				<cylinder length="0.05" radius="0.003"/>
			</geometry>
			<origin rpy="-1.57075 -1.57075 0"/>
		</collision>
		<inertial>
			<origin rpy="-1.57075 -1.57075 0"/>
			<mass value="0.3"/>
			<inertia ixx="0.4" ixy="0" ixz="0" iyy="0.4" iyz="0.0" izz="0.2"/>
		</inertial>
	</link>
	<joint name="cylinder_right_4_to_belt" type="revolute">
		<parent link="conveyor_belt_right_foremost_link"/>
		<child link="cylinder_right_4"/>
		<axis xyz="0 1 0"/>
		<origin xyz="-0.68 0.0 0.005"/>
		<limit effort="100" lower="-100" upper="100" velocity="100"/>
	</joint>

	<link name="cylinder_right_5">
		<visual>
			<geometry>
				<cylinder length="0.05" radius="0.003"/>
			</geometry>
			<origin rpy="-1.57075 -1.57075 0"/>
			<material name="black"/>
		</visual>
		<collision>
			<geometry>
				<cylinder length="0.05" radius="0.003"/>
			</geometry>
			<origin rpy="-1.57075 -1.57075 0"/>
		</collision>
		<inertial>
			<origin rpy="-1.57075 -1.57075 0"/>
			<mass value="0.3"/>
			<inertia ixx="0.4" ixy="0" ixz="0" iyy="0.4" iyz="0.0" izz="0.2"/>
		</inertial>
	</link>
	<joint name="cylinder_right_5_to_belt" type="revolute">
		<parent link="conveyor_belt_right_foremost_link"/>
		<child link="cylinder_right_5"/>
		<axis xyz="0 1 0"/>
		<origin xyz="-0.655 0.0 0.005"/>
		<limit effort="100" lower="-100" upper="100" velocity="100"/>
	</joint>
	<link name="cylinder_right_6">
		<visual>
			<geometry>
				<cylinder length="0.05" radius="0.003"/>
			</geometry>
			<origin rpy="-1.57075 -1.57075 0"/>
			<material name="black"/>
		</visual>
		<collision>
			<geometry>
				<cylinder length="0.05" radius="0.003"/>
			</geometry>
			<origin rpy="-1.57075 -1.57075 0"/>
		</collision>
		<inertial>
			<origin rpy="-1.57075 -1.57075 0"/>
			<mass value="0.3"/>
			<inertia ixx="0.4" ixy="0" ixz="0" iyy="0.4" iyz="0.0" izz="0.2"/>
		</inertial>
	</link>
	<joint name="cylinder_right_6_to_belt" type="revolute">
		<parent link="conveyor_belt_right_foremost_link"/>
		<child link="cylinder_right_6"/>
		<axis xyz="0 1 0"/>
		<origin xyz="-0.63 0.0 0.005"/>
		<limit effort="100" lower="-100" upper="100" velocity="100"/>
	</joint>
	<link name="cylinder_right_7">
		<visual>
			<geometry>
				<cylinder length="0.05" radius="0.003"/>
			</geometry>
			<origin rpy="-1.57075 -1.57075 0"/>
			<material name="black"/>
		</visual>
		<collision>
			<geometry>
				<cylinder length="0.05" radius="0.003"/>
			</geometry>
			<origin rpy="-1.57075 -1.57075 0"/>
		</collision>
		<inertial>
			<origin rpy="-1.57075 -1.57075 0"/>
			<mass value="0.3"/>
			<inertia ixx="0.4" ixy="0" ixz="0" iyy="0.4" iyz="0.0" izz="0.2"/>
		</inertial>
	</link>
	<joint name="cylinder_right_7_to_belt" type="revolute">
		<parent link="conveyor_belt_right_foremost_link"/>
		<child link="cylinder_right_7"/>
		<axis xyz="0 1 0"/>
		<origin xyz="-0.605 0.0 0.005"/>
		<limit effort="100" lower="-100" upper="100" velocity="100"/>
	</joint>
	<link name="cylinder_right_8">
		<visual>
			<geometry>
				<cylinder length="0.05" radius="0.003"/>
			</geometry>
			<origin rpy="-1.57075 -1.57075 0"/>
			<material name="black"/>
		</visual>
		<collision>
			<geometry>
				<cylinder length="0.05" radius="0.003"/>
			</geometry>
			<origin rpy="-1.57075 -1.57075 0"/>
		</collision>
		<inertial>
			<origin rpy="-1.57075 -1.57075 0"/>
			<mass value="0.3"/>
			<inertia ixx="0.4" ixy="0" ixz="0" iyy="0.4" iyz="0.0" izz="0.2"/>
		</inertial>
	</link>
	<joint name="cylinder_right_8_to_belt" type="revolute">
		<parent link="conveyor_belt_right_foremost_link"/>
		<child link="cylinder_right_8"/>
		<axis xyz="0 1 0"/>
		<origin xyz="-0.5800000000000001 0.0 0.005"/>
		<limit effort="100" lower="-100" upper="100" velocity="100"/>
	</joint>
	<link name="cylinder_right_9">
		<visual>
			<geometry>
				<cylinder length="0.05" radius="0.003"/>
			</geometry>
			<origin rpy="-1.57075 -1.57075 0"/>
			<material name="black"/>
		</visual>
		<collision>
			<geometry>
				<cylinder length="0.05" radius="0.003"/>
			</geometry>
			<origin rpy="-1.57075 -1.57075 0"/>
		</collision>
		<inertial>
			<origin rpy="-1.57075 -1.57075 0"/>
			<mass value="0.3"/>
			<inertia ixx="0.4" ixy="0" ixz="0" iyy="0.4" iyz="0.0" izz="0.2"/>
		</inertial>
	</link>
	<joint name="cylinder_right_9_to_belt" type="revolute">
		<parent link="conveyor_belt_right_foremost_link"/>
		<child link="cylinder_right_9"/>
		<axis xyz="0 1 0"/>
		<origin xyz="-0.555 0.0 0.005"/>
		<limit effort="100" lower="-100" upper="100" velocity="100"/>
	</joint>
	<link name="cylinder_right_10">
		<visual>
			<geometry>
				<cylinder length="0.05" radius="0.003"/>
			</geometry>
			<origin rpy="-1.57075 -1.57075 0"/>
			<material name="black"/>
		</visual>
		<collision>
			<geometry>
				<cylinder length="0.05" radius="0.003"/>
			</geometry>
			<origin rpy="-1.57075 -1.57075 0"/>
		</collision>
		<inertial>
			<origin rpy="-1.57075 -1.57075 0"/>
			<mass value="0.3"/>
			<inertia ixx="0.4" ixy="0" ixz="0" iyy="0.4" iyz="0.0" izz="0.2"/>
		</inertial>
	</link>
	<joint name="cylinder_right_10_to_belt" type="revolute">
		<parent link="conveyor_belt_right_foremost_link"/>
		<child link="cylinder_right_10"/>
		<axis xyz="0 1 0"/>
		<origin xyz="-0.53 0.0 0.005"/>
		<limit effort="100" lower="-100" upper="100" velocity="100"/>
	</joint>
	<link name="cylinder_right_11">
		<visual>
			<geometry>
				<cylinder length="0.05" radius="0.003"/>
			</geometry>
			<origin rpy="-1.57075 -1.57075 0"/>
			<material name="black"/>
		</visual>
		<collision>
			<geometry>
				<cylinder length="0.05" radius="0.003"/>
			</geometry>
			<origin rpy="-1.57075 -1.57075 0"/>
		</collision>
		<inertial>
			<origin rpy="-1.57075 -1.57075 0"/>
			<mass value="0.3"/>
			<inertia ixx="0.4" ixy="0" ixz="0" iyy="0.4" iyz="0.0" izz="0.2"/>
		</inertial>
	</link>
	<joint name="cylinder_right_11_to_belt" type="revolute">
		<parent link="conveyor_belt_right_foremost_link"/>
		<child link="cylinder_right_11"/>
		<axis xyz="0 1 0"/>
		<origin xyz="-0.505 0.0 0.005"/>
		<limit effort="100" lower="-100" upper="100" velocity="100"/>
	</joint>
	<link name="cylinder_right_12">
		<visual>
			<geometry>
				<cylinder length="0.05" radius="0.003"/>
			</geometry>
			<origin rpy="-1.57075 -1.57075 0"/>
			<material name="black"/>
		</visual>
		<collision>
			<geometry>
				<cylinder length="0.05" radius="0.003"/>
			</geometry>
			<origin rpy="-1.57075 -1.57075 0"/>
		</collision>
		<inertial>
			<origin rpy="-1.57075 -1.57075 0"/>
			<mass value="0.3"/>
			<inertia ixx="0.4" ixy="0" ixz="0" iyy="0.4" iyz="0.0" izz="0.2"/>
		</inertial>
	</link>
	<joint name="cylinder_right_12_to_belt" type="revolute">
		<parent link="conveyor_belt_right_foremost_link"/>
		<child link="cylinder_right_12"/>
		<axis xyz="0 1 0"/>
		<origin xyz="-0.48 0.0 0.005"/>
		<limit effort="100" lower="-100" upper="100" velocity="100"/>
	</joint>
	<link name="cylinder_right_13">
		<visual>
			<geometry>
				<cylinder length="0.05" radius="0.003"/>
			</geometry>
			<origin rpy="-1.57075 -1.57075 0"/>
			<material name="black"/>
		</visual>
		<collision>
			<geometry>
				<cylinder length="0.05" radius="0.003"/>
			</geometry>
			<origin rpy="-1.57075 -1.57075 0"/>
		</collision>
		<inertial>
			<origin rpy="-1.57075 -1.57075 0"/>
			<mass value="0.3"/>
			<inertia ixx="0.4" ixy="0" ixz="0" iyy="0.4" iyz="0.0" izz="0.2"/>
		</inertial>
	</link>
	<joint name="cylinder_right_13_to_belt" type="revolute">
		<parent link="conveyor_belt_right_foremost_link"/>
		<child link="cylinder_right_13"/>
		<axis xyz="0 1 0"/>
		<origin xyz="-0.455 0.0 0.005"/>
		<limit effort="100" lower="-100" upper="100" velocity="100"/>
	</joint>
	<link name="cylinder_right_14">
		<visual>
			<geometry>
				<cylinder length="0.05" radius="0.003"/>
			</geometry>
			<origin rpy="-1.57075 -1.57075 0"/>
			<material name="black"/>
		</visual>
		<collision>
			<geometry>
				<cylinder length="0.05" radius="0.003"/>
			</geometry>
			<origin rpy="-1.57075 -1.57075 0"/>
		</collision>
		<inertial>
			<origin rpy="-1.57075 -1.57075 0"/>
			<mass value="0.3"/>
			<inertia ixx="0.4" ixy="0" ixz="0" iyy="0.4" iyz="0.0" izz="0.2"/>
		</inertial>
	</link>
	<joint name="cylinder_right_14_to_belt" type="revolute">
		<parent link="conveyor_belt_right_foremost_link"/>
		<child link="cylinder_right_14"/>
		<axis xyz="0 1 0"/>
		<origin xyz="-0.43 0.0 0.005"/>
		<limit effort="100" lower="-100" upper="100" velocity="100"/>
	</joint>
	<link name="cylinder_right_15">
		<visual>
			<geometry>
				<cylinder length="0.05" radius="0.003"/>
			</geometry>
			<origin rpy="-1.57075 -1.57075 0"/>
			<material name="black"/>
		</visual>
		<collision>
			<geometry>
				<cylinder length="0.05" radius="0.003"/>
			</geometry>
			<origin rpy="-1.57075 -1.57075 0"/>
		</collision>
		<inertial>
			<origin rpy="-1.57075 -1.57075 0"/>
			<mass value="0.3"/>
			<inertia ixx="0.4" ixy="0" ixz="0" iyy="0.4" iyz="0.0" izz="0.2"/>
		</inertial>
	</link>
	<joint name="cylinder_right_15_to_belt" type="revolute">
		<parent link="conveyor_belt_right_foremost_link"/>
		<child link="cylinder_right_15"/>
		<axis xyz="0 1 0"/>
		<origin xyz="-0.405 0.0 0.005"/>
		<limit effort="100" lower="-100" upper="100" velocity="100"/>
	</joint>
	<link name="cylinder_right_16">
		<visual>
			<geometry>
				<cylinder length="0.05" radius="0.003"/>
			</geometry>
			<origin rpy="-1.57075 -1.57075 0"/>
			<material name="black"/>
		</visual>
		<collision>
			<geometry>
				<cylinder length="0.05" radius="0.003"/>
			</geometry>
			<origin rpy="-1.57075 -1.57075 0"/>
		</collision>
		<inertial>
			<origin rpy="-1.57075 -1.57075 0"/>
			<mass value="0.3"/>
			<inertia ixx="0.4" ixy="0" ixz="0" iyy="0.4" iyz="0.0" izz="0.2"/>
		</inertial>
	</link>
	<joint name="cylinder_right_16_to_belt" type="revolute">
		<parent link="conveyor_belt_right_foremost_link"/>
		<child link="cylinder_right_16"/>
		<axis xyz="0 1 0"/>
		<origin xyz="-0.38 0.0 0.005"/>
		<limit effort="100" lower="-100" upper="100" velocity="100"/>
	</joint>
	<link name="cylinder_right_17">
		<visual>
			<geometry>
				<cylinder length="0.05" radius="0.003"/>
			</geometry>
			<origin rpy="-1.57075 -1.57075 0"/>
			<material name="black"/>
		</visual>
		<collision>
			<geometry>
				<cylinder length="0.05" radius="0.003"/>
			</geometry>
			<origin rpy="-1.57075 -1.57075 0"/>
		</collision>
		<inertial>
			<origin rpy="-1.57075 -1.57075 0"/>
			<mass value="0.3"/>
			<inertia ixx="0.4" ixy="0" ixz="0" iyy="0.4" iyz="0.0" izz="0.2"/>
		</inertial>
	</link>
	<joint name="cylinder_right_17_to_belt" type="revolute">
		<parent link="conveyor_belt_right_foremost_link"/>
		<child link="cylinder_right_17"/>
		<axis xyz="0 1 0"/>
		<origin xyz="-0.355 0.0 0.005"/>
		<limit effort="100" lower="-100" upper="100" velocity="100"/>
	</joint>
	<link name="cylinder_right_18">
		<visual>
			<geometry>
				<cylinder length="0.05" radius="0.003"/>
			</geometry>
			<origin rpy="-1.57075 -1.57075 0"/>
			<material name="black"/>
		</visual>
		<collision>
			<geometry>
				<cylinder length="0.05" radius="0.003"/>
			</geometry>
			<origin rpy="-1.57075 -1.57075 0"/>
		</collision>
		<inertial>
			<origin rpy="-1.57075 -1.57075 0"/>
			<mass value="0.3"/>
			<inertia ixx="0.4" ixy="0" ixz="0" iyy="0.4" iyz="0.0" izz="0.2"/>
		</inertial>
	</link>
	<joint name="cylinder_right_18_to_belt" type="revolute">
		<parent link="conveyor_belt_right_foremost_link"/>
		<child link="cylinder_right_18"/>
		<axis xyz="0 1 0"/>
		<origin xyz="-0.33 0.0 0.005"/>
		<limit effort="100" lower="-100" upper="100" velocity="100"/>
	</joint>
	<link name="cylinder_right_19">
		<visual>
			<geometry>
				<cylinder length="0.05" radius="0.003"/>
			</geometry>
			<origin rpy="-1.57075 -1.57075 0"/>
			<material name="black"/>
		</visual>
		<collision>
			<geometry>
				<cylinder length="0.05" radius="0.003"/>
			</geometry>
			<origin rpy="-1.57075 -1.57075 0"/>
		</collision>
		<inertial>
			<origin rpy="-1.57075 -1.57075 0"/>
			<mass value="0.3"/>
			<inertia ixx="0.4" ixy="0" ixz="0" iyy="0.4" iyz="0.0" izz="0.2"/>
		</inertial>
	</link>
	<joint name="cylinder_right_19_to_belt" type="revolute">
		<parent link="conveyor_belt_right_foremost_link"/>
		<child link="cylinder_right_19"/>
		<axis xyz="0 1 0"/>
		<origin xyz="-0.305 0.0 0.005"/>
		<limit effort="100" lower="-100" upper="100" velocity="100"/>
	</joint>
	<link name="cylinder_right_20">
		<visual>
			<geometry>
				<cylinder length="0.05" radius="0.003"/>
			</geometry>
			<origin rpy="-1.57075 -1.57075 0"/>
			<material name="black"/>
		</visual>
		<collision>
			<geometry>
				<cylinder length="0.05" radius="0.003"/>
			</geometry>
			<origin rpy="-1.57075 -1.57075 0"/>
		</collision>
		<inertial>
			<origin rpy="-1.57075 -1.57075 0"/>
			<mass value="0.3"/>
			<inertia ixx="0.4" ixy="0" ixz="0" iyy="0.4" iyz="0.0" izz="0.2"/>
		</inertial>
	</link>
	<joint name="cylinder_right_20_to_belt" type="revolute">
		<parent link="conveyor_belt_right_foremost_link"/>
		<child link="cylinder_right_20"/>
		<axis xyz="0 1 0"/>
		<origin xyz="-0.28 0.0 0.005"/>
		<limit effort="100" lower="-100" upper="100" velocity="100"/>
	</joint>
	<link name="cylinder_right_21">
		<visual>
			<geometry>
				<cylinder length="0.05" radius="0.003"/>
			</geometry>
			<origin rpy="-1.57075 -1.57075 0"/>
			<material name="black"/>
		</visual>
		<collision>
			<geometry>
				<cylinder length="0.05" radius="0.003"/>
			</geometry>
			<origin rpy="-1.57075 -1.57075 0"/>
		</collision>
		<inertial>
			<origin rpy="-1.57075 -1.57075 0"/>
			<mass value="0.3"/>
			<inertia ixx="0.4" ixy="0" ixz="0" iyy="0.4" iyz="0.0" izz="0.2"/>
		</inertial>
	</link>
	<joint name="cylinder_right_21_to_belt" type="revolute">
		<parent link="conveyor_belt_right_foremost_link"/>
		<child link="cylinder_right_21"/>
		<axis xyz="0 1 0"/>
		<origin xyz="-0.255 0.0 0.005"/>
		<limit effort="100" lower="-100" upper="100" velocity="100"/>
	</joint>
	<link name="cylinder_right_22">
		<visual>
			<geometry>
				<cylinder length="0.05" radius="0.003"/>
			</geometry>
			<origin rpy="-1.57075 -1.57075 0"/>
			<material name="black"/>
		</visual>
		<collision>
			<geometry>
				<cylinder length="0.05" radius="0.003"/>
			</geometry>
			<origin rpy="-1.57075 -1.57075 0"/>
		</collision>
		<inertial>
			<origin rpy="-1.57075 -1.57075 0"/>
			<mass value="0.3"/>
			<inertia ixx="0.4" ixy="0" ixz="0" iyy="0.4" iyz="0.0" izz="0.2"/>
		</inertial>
	</link>
	<joint name="cylinder_right_22_to_belt" type="revolute">
		<parent link="conveyor_belt_right_foremost_link"/>
		<child link="cylinder_right_22"/>
		<axis xyz="0 1 0"/>
		<origin xyz="-0.22999999999999998 0.0 0.005"/>
		<limit effort="100" lower="-100" upper="100" velocity="100"/>
	</joint>
	<link name="cylinder_right_23">
		<visual>
			<geometry>
				<cylinder length="0.05" radius="0.003"/>
			</geometry>
			<origin rpy="-1.57075 -1.57075 0"/>
			<material name="black"/>
		</visual>
		<collision>
			<geometry>
				<cylinder length="0.05" radius="0.003"/>
			</geometry>
			<origin rpy="-1.57075 -1.57075 0"/>
		</collision>
		<inertial>
			<origin rpy="-1.57075 -1.57075 0"/>
			<mass value="0.3"/>
			<inertia ixx="0.4" ixy="0" ixz="0" iyy="0.4" iyz="0.0" izz="0.2"/>
		</inertial>
	</link>
	<joint name="cylinder_right_23_to_belt" type="revolute">
		<parent link="conveyor_belt_right_foremost_link"/>
		<child link="cylinder_right_23"/>
		<axis xyz="0 1 0"/>
		<origin xyz="-0.20499999999999996 0.0 0.005"/>
		<limit effort="100" lower="-100" upper="100" velocity="100"/>
	</joint>
	<link name="cylinder_right_24">
		<visual>
			<geometry>
				<cylinder length="0.05" radius="0.003"/>
			</geometry>
			<origin rpy="-1.57075 -1.57075 0"/>
			<material name="black"/>
		</visual>
		<collision>
			<geometry>
				<cylinder length="0.05" radius="0.003"/>
			</geometry>
			<origin rpy="-1.57075 -1.57075 0"/>
		</collision>
		<inertial>
			<origin rpy="-1.57075 -1.57075 0"/>
			<mass value="0.3"/>
			<inertia ixx="0.4" ixy="0" ixz="0" iyy="0.4" iyz="0.0" izz="0.2"/>
		</inertial>
	</link>
	<joint name="cylinder_right_24_to_belt" type="revolute">
		<parent link="conveyor_belt_right_foremost_link"/>
		<child link="cylinder_right_24"/>
		<axis xyz="0 1 0"/>
		<origin xyz="-0.17999999999999994 0.0 0.005"/>
		<limit effort="100" lower="-100" upper="100" velocity="100"/>
	</joint>
	<link name="cylinder_right_25">
		<visual>
			<geometry>
				<cylinder length="0.05" radius="0.003"/>
			</geometry>
			<origin rpy="-1.57075 -1.57075 0"/>
			<material name="black"/>
		</visual>
		<collision>
			<geometry>
				<cylinder length="0.05" radius="0.003"/>
			</geometry>
			<origin rpy="-1.57075 -1.57075 0"/>
		</collision>
		<inertial>
			<origin rpy="-1.57075 -1.57075 0"/>
			<mass value="0.3"/>
			<inertia ixx="0.4" ixy="0" ixz="0" iyy="0.4" iyz="0.0" izz="0.2"/>
		</inertial>
	</link>
	<joint name="cylinder_right_25_to_belt" type="revolute">
		<parent link="conveyor_belt_right_foremost_link"/>
		<child link="cylinder_right_25"/>
		<axis xyz="0 1 0"/>
		<origin xyz="-0.15500000000000003 0.0 0.005"/>
		<limit effort="100" lower="-100" upper="100" velocity="100"/>
	</joint>
	<link name="cylinder_right_26">
		<visual>
			<geometry>
				<cylinder length="0.05" radius="0.003"/>
			</geometry>
			<origin rpy="-1.57075 -1.57075 0"/>
			<material name="black"/>
		</visual>
		<collision>
			<geometry>
				<cylinder length="0.05" radius="0.003"/>
			</geometry>
			<origin rpy="-1.57075 -1.57075 0"/>
		</collision>
		<inertial>
			<origin rpy="-1.57075 -1.57075 0"/>
			<mass value="0.3"/>
			<inertia ixx="0.4" ixy="0" ixz="0" iyy="0.4" iyz="0.0" izz="0.2"/>
		</inertial>
	</link>
	<joint name="cylinder_right_26_to_belt" type="revolute">
		<parent link="conveyor_belt_right_foremost_link"/>
		<child link="cylinder_right_26"/>
		<axis xyz="0 1 0"/>
		<origin xyz="-0.13 0.0 0.005"/>
		<limit effort="100" lower="-100" upper="100" velocity="100"/>
	</joint>
	<link name="cylinder_right_27">
		<visual>
			<geometry>
				<cylinder length="0.05" radius="0.003"/>
			</geometry>
			<origin rpy="-1.57075 -1.57075 0"/>
			<material name="black"/>
		</visual>
		<collision>
			<geometry>
				<cylinder length="0.05" radius="0.003"/>
			</geometry>
			<origin rpy="-1.57075 -1.57075 0"/>
		</collision>
		<inertial>
			<origin rpy="-1.57075 -1.57075 0"/>
			<mass value="0.3"/>
			<inertia ixx="0.4" ixy="0" ixz="0" iyy="0.4" iyz="0.0" izz="0.2"/>
		</inertial>
	</link>
	<joint name="cylinder_right_27_to_belt" type="revolute">
		<parent link="conveyor_belt_right_foremost_link"/>
		<child link="cylinder_right_27"/>
		<axis xyz="0 1 0"/>
		<origin xyz="-0.10499999999999998 0.0 0.005"/>
		<limit effort="100" lower="-100" upper="100" velocity="100"/>
	</joint>
	<link name="cylinder_right_28">
		<visual>
			<geometry>
				<cylinder length="0.05" radius="0.003"/>
			</geometry>
			<origin rpy="-1.57075 -1.57075 0"/>
			<material name="black"/>
		</visual>
		<collision>
			<geometry>
				<cylinder length="0.05" radius="0.003"/>
			</geometry>
			<origin rpy="-1.57075 -1.57075 0"/>
		</collision>
		<inertial>
			<origin rpy="-1.57075 -1.57075 0"/>
			<mass value="0.3"/>
			<inertia ixx="0.4" ixy="0" ixz="0" iyy="0.4" iyz="0.0" izz="0.2"/>
		</inertial>
	</link>
	<joint name="cylinder_right_28_to_belt" type="revolute">
		<parent link="conveyor_belt_right_foremost_link"/>
		<child link="cylinder_right_28"/>
		<axis xyz="0 1 0"/>
		<origin xyz="-0.07999999999999996 0.0 0.005"/>
		<limit effort="100" lower="-100" upper="100" velocity="100"/>
	</joint>
	<link name="cylinder_right_29">
		<visual>
			<geometry>
				<cylinder length="0.05" radius="0.003"/>
			</geometry>
			<origin rpy="-1.57075 -1.57075 0"/>
			<material name="black"/>
		</visual>
		<collision>
			<geometry>
				<cylinder length="0.05" radius="0.003"/>
			</geometry>
			<origin rpy="-1.57075 -1.57075 0"/>
		</collision>
		<inertial>
			<origin rpy="-1.57075 -1.57075 0"/>
			<mass value="0.3"/>
			<inertia ixx="0.4" ixy="0" ixz="0" iyy="0.4" iyz="0.0" izz="0.2"/>
		</inertial>
	</link>
	<joint name="cylinder_right_29_to_belt" type="revolute">
		<parent link="conveyor_belt_right_foremost_link"/>
		<child link="cylinder_right_29"/>
		<axis xyz="0 1 0"/>
		<origin xyz="-0.05499999999999994 0.0 0.005"/>
		<limit effort="100" lower="-100" upper="100" velocity="100"/>
	</joint>
	<link name="cylinder_right_30">
		<visual>
			<geometry>
				<cylinder length="0.05" radius="0.003"/>
			</geometry>
			<origin rpy="-1.57075 -1.57075 0"/>
			<material name="black"/>
		</visual>
		<collision>
			<geometry>
				<cylinder length="0.05" radius="0.003"/>
			</geometry>
			<origin rpy="-1.57075 -1.57075 0"/>
		</collision>
		<inertial>
			<origin rpy="-1.57075 -1.57075 0"/>
			<mass value="0.3"/>
			<inertia ixx="0.4" ixy="0" ixz="0" iyy="0.4" iyz="0.0" izz="0.2"/>
		</inertial>
	</link>
	<joint name="cylinder_right_30_to_belt" type="revolute">
		<parent link="conveyor_belt_right_foremost_link"/>
		<child link="cylinder_right_30"/>
		<axis xyz="0 1 0"/>
		<origin xyz="-0.030000000000000027 0.0 0.005"/>
		<limit effort="100" lower="-100" upper="100" velocity="100"/>
	</joint>
	<link name="cylinder_right_31">
		<visual>
			<geometry>
				<cylinder length="0.05" radius="0.003"/>
			</geometry>
			<origin rpy="-1.57075 -1.57075 0"/>
			<material name="black"/>
		</visual>
		<collision>
			<geometry>
				<cylinder length="0.05" radius="0.003"/>
			</geometry>
			<origin rpy="-1.57075 -1.57075 0"/>
		</collision>
		<inertial>
			<origin rpy="-1.57075 -1.57075 0"/>
			<mass value="0.3"/>
			<inertia ixx="0.4" ixy="0" ixz="0" iyy="0.4" iyz="0.0" izz="0.2"/>
		</inertial>
	</link>
	<joint name="cylinder_right_31_to_belt" type="revolute">
		<parent link="conveyor_belt_right_foremost_link"/>
		<child link="cylinder_right_31"/>
		<axis xyz="0 1 0"/>
		<origin xyz="-0.0043 0.0 -0.00"/>
		<limit effort="100" lower="-100" upper="100" velocity="100"/>
	</joint>

</robot>
